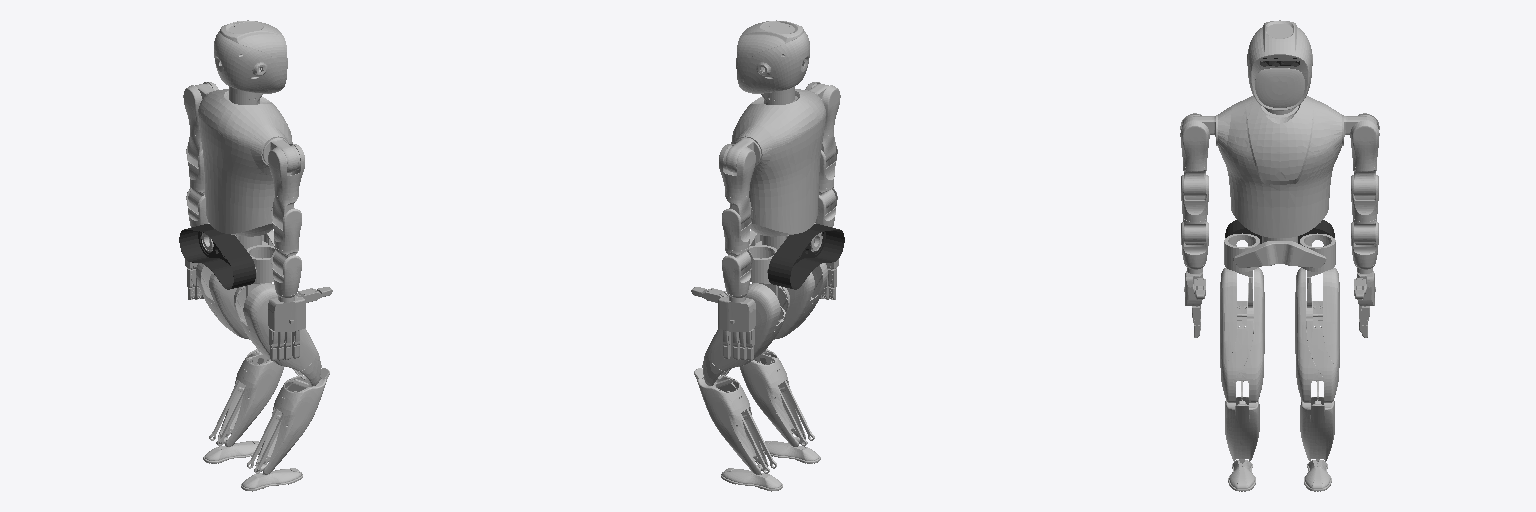
--- What the picture shows (computed from the rendered views, not written in the file) ---
The picture shows the robot from 3 angles, left to right: view 1: azimuth 30°, elevation 25°; view 2: azimuth 150°, elevation 25°; view 3: azimuth 270°, elevation 25°; orthographic projection.
Model XBot-L with 91 links and 90 joints (12 revolute, 78 fixed), rooted at base_link, posed every joint at zero.
Links seen in each view (by area): view 1: base_link, neck_pitch_link, right_knee_link, right_leg_pitch_link, waist_roll_link, left_knee_link, left_leg_pitch_link, right_shoulder_roll_link, right_hand_link, right_elbow_pitch_link, right_wrist_roll_link, right_ankle_roll_link (+4 smaller); view 2: base_link, neck_pitch_link, left_knee_link, left_leg_pitch_link, waist_roll_link, right_knee_link, right_leg_pitch_link, left_shoulder_roll_link, left_hand_link, left_elbow_pitch_link, left_wrist_roll_link, left_ankle_roll_link (+4 smaller); view 3: base_link, left_leg_pitch_link, right_leg_pitch_link, neck_pitch_link, waist_yaw_link, right_knee_link, left_knee_link, right_shoulder_roll_link, left_shoulder_roll_link, left_elbow_pitch_link, right_elbow_pitch_link, right_leg_roll_link (+8 smaller).
Boxes of the visible links, <box> form: base_link: <box>198,89,292,236</box>; neck_pitch_link: <box>214,20,287,93</box>; right_knee_link: <box>255,368,329,474</box>; right_leg_pitch_link: <box>234,283,320,385</box>; waist_roll_link: <box>179,224,255,289</box>; left_knee_link: <box>218,349,283,446</box>; left_leg_pitch_link: <box>196,263,249,339</box>; right_shoulder_roll_link: <box>268,144,304,197</box>; right_hand_link: <box>268,296,305,331</box>; right_elbow_pitch_link: <box>271,207,301,250</box>; right_wrist_roll_link: <box>271,250,301,295</box>; right_ankle_roll_link: <box>241,468,302,491</box>; base_link: <box>731,89,825,236</box>; neck_pitch_link: <box>736,20,809,93</box>; left_knee_link: <box>694,368,768,474</box>; left_leg_pitch_link: <box>703,283,789,385</box>; waist_roll_link: <box>768,224,844,289</box>; right_knee_link: <box>740,349,805,446</box>; right_leg_pitch_link: <box>774,263,827,339</box>; left_shoulder_roll_link: <box>719,144,755,197</box>; left_hand_link: <box>718,296,755,331</box>; left_elbow_pitch_link: <box>722,207,752,250</box>; left_wrist_roll_link: <box>722,250,752,295</box>; left_ankle_roll_link: <box>721,468,782,491</box>; base_link: <box>1218,96,1341,237</box>; left_leg_pitch_link: <box>1295,268,1339,402</box>; right_leg_pitch_link: <box>1220,268,1264,402</box>; neck_pitch_link: <box>1247,20,1312,110</box>; waist_yaw_link: <box>1233,236,1326,267</box>; right_knee_link: <box>1225,397,1259,461</box>; left_knee_link: <box>1300,397,1334,461</box>; right_shoulder_roll_link: <box>1180,113,1209,168</box>; left_shoulder_roll_link: <box>1350,113,1379,168</box>; left_elbow_pitch_link: <box>1351,175,1378,221</box>; right_elbow_pitch_link: <box>1181,175,1208,221</box>; right_leg_roll_link: <box>1224,233,1259,271</box>.
Bounding box of the posed robot: 0.3685 × 0.6175 × 1.52 m (x, y, z).
84 mesh visuals loaded from 85 distinct referenced files (84 binary STL); not drawn: 1 (reference not matched to a file when rendering).

robot.urdf — XBot-L:
<?xml version="1.0" encoding="utf-8"?>
<!-- This URDF was automatically created by SolidWorks to URDF Exporter! Originally created by Stephen Brawner ([email redacted]) 
     Commit Version: 1.6.0-4-g7f85cfe  Build Version: 1.6.7995.38578
     For more information, please see http://wiki.ros.org/sw_urdf_exporter -->
<robot
  name="XBot-L">
  <link
    name="base_link">
    <inertial>
      <origin
        xyz="-0.0033599 -0.00084664 0.1336"
        rpy="0 0 0" />
      <mass
        value="9.9576" />
      <inertia
        ixx="0.089966"
        ixy="-1.1578E-05"
        ixz="-0.00027182"
        iyy="0.060002"
        iyz="-2.1263E-05"
        izz="0.056135" />
    </inertial>
    <visual>
      <origin
        xyz="0 0 0"
        rpy="0 0 0" />
      <geometry>
        <mesh
          filename="../meshes/base_link.STL" />
      </geometry>
      <material
        name="">
        <color
          rgba="0.75294 0.75294 0.75294 1" />
      </material>
    </visual>
    <collision>
      <origin
        xyz="0 0. 0.1"
        rpy="0 0 0" />
      <geometry>
        <box size="0.4 0.4 0.4"/>
      </geometry>
    </collision>

    <!-- <collision>
      <origin
        xyz="0 0 0"
        rpy="0 0 0" />
      <geometry>
        <mesh
          filename="../meshes/base_link.STL" />
      </geometry>
    </collision> -->
  </link>
  <!--neck -->
  <link
    name="neck_base_link">
    <inertial>
      <origin
        xyz="3.5639E-05 4.7576E-05 -0.031296"
        rpy="0 0 0" />
      <mass
        value="0.61964" />
      <inertia
        ixx="0.00027591"
        ixy="4.4922E-07"
        ixz="4.4668E-07"
        iyy="0.00029054"
        iyz="3.5279E-07"
        izz="0.00047326" />
    </inertial>
    <visual>
      <origin
        xyz="0 0 0"
        rpy="0 0 0" />
      <geometry>
        <mesh
          filename="../meshes/neck_base_link.STL" />
      </geometry>
      <material
        name="">
        <color
          rgba="0.86667 0.86667 0.8902 1" />
      </material>
    </visual>
    <collision>
      <origin
        xyz="0 0 0"
        rpy="0 0 0" />
      <geometry>
        <mesh
          filename="../meshes/neck_base_link.STL" />
      </geometry>
    </collision>
  </link>
  <joint
    name="neck_base_joint"
    type="fixed">
    <origin
      xyz="0 0 0.4"
      rpy="0 0 0" />
    <parent
      link="base_link" />
    <child
      link="neck_base_link" />
    <axis
      xyz="0 0 0" />
  </joint>
  <link
    name="neck_yaw_link">
    <inertial>
      <origin
        xyz="0.023237 0.004247 0.035877"
        rpy="0 0 0" />
      <mass
        value="0.64979" />
      <inertia
        ixx="0.00033722"
        ixy="7.322E-07"
        ixz="1.9679E-05"
        iyy="0.00056036"
        iyz="2.7926E-07"
        izz="0.0003788" />
    </inertial>
    <visual>
      <origin
        xyz="0 0 0"
        rpy="0 0 0" />
      <geometry>
        <mesh
          filename="../meshes/neck_yaw_link.STL" />
      </geometry>
      <material
        name="">
        <color
          rgba="0.69804 0.69804 0.69804 1" />
      </material>
    </visual>
    <collision>
      <origin
        xyz="0 0 0"
        rpy="0 0 0" />
      <geometry>
        <mesh
          filename="../meshes/neck_yaw_link.STL" />
      </geometry>
    </collision>
  </link>
  <joint
    name="neck_yaw_joint"
    type="fixed">
    <origin
      xyz="0 0 0"
      rpy="0 0 0" />
    <parent
      link="neck_base_link" />
    <child
      link="neck_yaw_link" />
    <axis
      xyz="0 0 1" />
    <limit
      lower="-1.57"
      upper="1.57"
      effort="50"
      velocity="7" />
    <dynamics
      damping="0."
      friction="0." />
  </joint>
  <link
    name="neck_pitch_link">
    <inertial>
      <origin
        xyz="-0.0021819 -0.087991 0.00035708"
        rpy="0 0 0" />
      <mass
        value="1.3216" />
      <inertia
        ixx="0.0064217"
        ixy="-0.0010336"
        ixz="-1.3429E-07"
        iyy="0.0051542"
        iyz="3.6968E-07"
        izz="0.0050103" />
    </inertial>
    <visual>
      <origin
        xyz="0 0 0"
        rpy="0 0 0" />
      <geometry>
        <mesh
          filename="../meshes/neck_pitch_link.STL" />
      </geometry>
      <material
        name="">
        <color
          rgba="0.75294 0.75294 0.75294 1" />
      </material>
    </visual>
    <collision>
      <origin
        xyz="0 0 0"
        rpy="0 0 0" />
      <geometry>
        <mesh
          filename="../meshes/neck_pitch_link.STL" />
      </geometry>
    </collision>
  </link>
  <joint
    name="neck_pitch_joint"
    type="fixed">
    <origin
      xyz="0.032 0 0.044"
      rpy="-1.5708 0 0" />
    <parent
      link="neck_yaw_link" />
    <child
      link="neck_pitch_link" />
    <axis
      xyz="0 0 1" />
    <limit
      lower="-0.44"
      upper="0.44"
      effort="50"
      velocity="7" />
    <dynamics
      damping="0."
      friction="0." />
  </joint>
  <!--realsense -->
  <link
    name="realsense_link">
    <inertial>
      <origin
        xyz="0.047424 0.00014285 -0.0082421"
        rpy="0 0 0" />
      <mass
        value="0.076907" />
      <inertia
        ixx="8.6659E-06"
        ixy="9.2766E-08"
        ixz="-9.1747E-08"
        iyy="9.4298E-05"
        iyz="9.0199E-08"
        izz="9.4996E-05" />
    </inertial>
    <visual>
      <origin
        xyz="0 0 0"
        rpy="0 0 0" />
      <geometry>
        <mesh
          filename="../meshes/realsense_link.STL" />
      </geometry>
      <material
        name="">
        <color
          rgba="0.25098 0.25098 0.25098 1" />
      </material>
    </visual>
    <collision>
      <origin
        xyz="0 0 0"
        rpy="0 0 0" />
      <geometry>
        <mesh
          filename="../meshes/realsense_link.STL" />
      </geometry>
    </collision>
  </link>
  <joint
    name="realsense_joint"
    type="fixed">
    <origin
      xyz="0.066371 -0.12536 0.0475"
      rpy="0.34907 1.5708 0" />
    <parent
      link="neck_pitch_link" />
    <child
      link="realsense_link" />
    <axis
      xyz="0 0 0" />
  </joint>
  <!--left arm  -->
  <link
    name="left_arm_base_link">
    <inertial>
      <origin
        xyz="4.3007E-05 -0.0002119 0.15272"
        rpy="0 0 0" />
      <mass
        value="0.71484" />
      <inertia
        ixx="0.00039879"
        ixy="4.4875E-09"
        ixz="4.4641E-07"
        iyy="0.00039825"
        iyz="3.3288E-07"
        izz="0.0005946" />
    </inertial>
    <visual>
      <origin
        xyz="0 0 0"
        rpy="0 0 0" />
      <geometry>
        <mesh
          filename="../meshes/left_arm_base_link.STL" />
      </geometry>
      <material
        name="">
        <color
          rgba="0.75294 0.75294 0.75294 1" />
      </material>
    </visual>
    <collision>
      <origin
        xyz="0 0 0"
        rpy="0 0 0" />
      <geometry>
        <mesh
          filename="../meshes/left_arm_base_link.STL" />
      </geometry>
    </collision>
  </link>
  <joint
    name="left_arm_base_joint"
    type="fixed">
    <origin
      xyz="0 0 0.2885"
      rpy="-1.5708 -1.5708 0" />
    <parent
      link="base_link" />
    <child
      link="left_arm_base_link" />
    <axis
      xyz="0 0 0" />
  </joint>
  <link
    name="left_shoulder_pitch_link">
    <inertial>
      <origin
        xyz="3.5013E-05 -0.0038729 -0.011871"
        rpy="0 0 0" />
      <mass
        value="0.90505" />
      <inertia
        ixx="0.00071173"
        ixy="5.7487E-07"
        ixz="-9.3092E-06"
        iyy="0.0010328"
        iyz="-3.8731E-06"
        izz="0.00051962" />
    </inertial>
    <visual>
      <origin
        xyz="0 0 0"
        rpy="0 0 0" />
      <geometry>
        <mesh
          filename="../meshes/left_shoulder_pitch_link.STL" />
      </geometry>
      <material
        name="">
        <color
          rgba="0.75294 0.75294 0.75294 1" />
      </material>
    </visual>
    <collision>
      <origin
        xyz="0 0 0"
        rpy="0 0 0" />
      <geometry>
        <mesh
          filename="../meshes/left_shoulder_pitch_link.STL" />
      </geometry>
    </collision>
  </link>
  <joint
    name="left_shoulder_pitch_joint"
    type="fixed">
    <origin
      xyz="0 0 0.2635"
      rpy="0 0 0" />
    <parent
      link="left_arm_base_link" />
    <child
      link="left_shoulder_pitch_link" />
    <axis
      xyz="0 0 1" />
    <limit
      lower="-3.14"
      upper="1.4"
      effort="80"
      velocity="7" />
    <dynamics
      damping="0."
      friction="0." />
  </joint>
  <link
    name="left_shoulder_roll_link">
    <inertial>
      <origin
        xyz="-5.3445E-05 -0.065465 0.00044459"
        rpy="0 0 0" />
      <mass
        value="0.72803" />
      <inertia
        ixx="0.00083478"
        ixy="5.2258E-07"
        ixz="-9.7942E-07"
        iyy="0.00046725"
        iyz="-1.7628E-07"
        izz="0.00099776" />
    </inertial>
    <visual>
      <origin
        xyz="0 0 0"
        rpy="0 0 0" />
      <geometry>
        <mesh
          filename="../meshes/left_shoulder_roll_link.STL" />
      </geometry>
      <material
        name="">
        <color
          rgba="0.75294 0.75294 0.75294 1" />
      </material>
    </visual>
    <collision>
      <origin
        xyz="0 0 0"
        rpy="0 0 0" />
      <geometry>
        <mesh
          filename="../meshes/left_shoulder_roll_link.STL" />
      </geometry>
    </collision>
  </link>
  <joint
    name="left_shoulder_roll_joint"
    type="fixed">
    <origin
      xyz="0 0 0"
      rpy="-1.5708 -1.5708 0" />
    <parent
      link="left_shoulder_pitch_link" />
    <child
      link="left_shoulder_roll_link" />
    <axis
      xyz="0 0 -1" />
    <limit
      lower="-2.79"
      upper="0.37"
      effort="80"
      velocity="7" />
    <dynamics
      damping="0."
      friction="0." />
  </joint>
  <link
    name="left_arm_yaw_link">
    <inertial>
      <origin
        xyz="-0.00064229 0.0042682 -0.011976"
        rpy="0 0 0" />
      <mass
        value="0.6767" />
      <inertia
        ixx="0.00042478"
        ixy="7.579E-07"
        ixz="-4.3018E-06"
        iyy="0.0005533"
        iyz="-2.724E-07"
        izz="0.00027258" />
    </inertial>
    <visual>
      <origin
        xyz="0 0 0"
        rpy="0 0 0" />
      <geometry>
        <mesh
          filename="../meshes/left_arm_yaw_link.STL" />
      </geometry>
      <material
        name="">
        <color
          rgba="0.75294 0.75294 0.75294 1" />
      </material>
    </visual>
    <collision>
      <origin
        xyz="0 0 0"
        rpy="0 0 0" />
      <geometry>
        <mesh
          filename="../meshes/left_arm_yaw_link.STL" />
      </geometry>
    </collision>
  </link>
  <joint
    name="left_arm_yaw_joint"
    type="fixed">
    <origin
      xyz="0 -0.1905 0"
      rpy="1.5708 -1.5708 0" />
    <parent
      link="left_shoulder_roll_link" />
    <child
      link="left_arm_yaw_link" />
    <axis
      xyz="0 0 1" />
    <limit
      lower="-2.09"
      upper="2.09"
      effort="50"
      velocity="7" />
    <dynamics
      damping="0."
      friction="0." />
  </joint>
  <link
    name="left_elbow_pitch_link">
    <inertial>
      <origin
        xyz="-4.1786E-05 0.063355 0.00048573"
        rpy="0 0 0" />
      <mass
        value="0.64825" />
      <inertia
        ixx="0.00066842"
        ixy="-3.9226E-07"
        ixz="-4.9075E-07"
        iyy="0.00051468"
        iyz="3.558E-07"
        izz="0.00057032" />
    </inertial>
    <visual>
      <origin
        xyz="0 0 0"
        rpy="0 0 0" />
      <geometry>
        <mesh
          filename="../meshes/left_elbow_pitch_link.STL" />
      </geometry>
      <material
        name="">
        <color
          rgba="0.75294 0.75294 0.75294 1" />
      </material>
    </visual>
    <collision>
      <origin
        xyz="0 0 0"
        rpy="0 0 0" />
      <geometry>
        <mesh
          filename="../meshes/left_elbow_pitch_link.STL" />
      </geometry>
    </collision>
  </link>
  <joint
    name="left_elbow_pitch_joint"
    type="fixed">
    <origin
      xyz="0 0 0"
      rpy="1.5708 0 0" />
    <parent
      link="left_arm_yaw_link" />
    <child
      link="left_elbow_pitch_link" />
    <axis
      xyz="0 0 -1" />
    <limit
      lower="-0.26"
      upper="2.18"
      effort="50"
      velocity="7" />
    <dynamics
      damping="0."
      friction="0." />
  </joint>
  <link
    name="left_elbow_yaw_link">
    <inertial>
      <origin
        xyz="-0.0001806 0.0042708 -0.0077002"
        rpy="0 0 0" />
      <mass
        value="0.64989" />
      <inertia
        ixx="0.00031291"
        ixy="1.4143E-07"
        ixz="-1.0059E-06"
        iyy="0.00043268"
        iyz="-5.4972E-07"
        izz="0.00025356" />
    </inertial>
    <visual>
      <origin
        xyz="0 0 0"
        rpy="0 0 0" />
      <geometry>
        <mesh
          filename="../meshes/left_elbow_yaw_link.STL" />
      </geometry>
      <material
        name="">
        <color
          rgba="0.75294 0.75294 0.75294 1" />
      </material>
    </visual>
    <collision>
      <origin
        xyz="0 0 0"
        rpy="0 0 0" />
      <geometry>
        <mesh
          filename="../meshes/left_elbow_yaw_link.STL" />
      </geometry>
    </collision>
  </link>
  <joint
    name="left_elbow_yaw_joint"
    type="fixed">
    <origin
      xyz="0 0.16 0"
      rpy="-1.5708 0 0" />
    <parent
      link="left_elbow_pitch_link" />
    <child
      link="left_elbow_yaw_link" />
    <axis
      xyz="0 0 1" />
    <limit
      lower="-2.09"
      upper="2.09"
      effort="50"
      velocity="7" />
    <dynamics
      damping="0."
      friction="0." />
  </joint>
  <link
    name="left_wrist_roll_link">
    <inertial>
      <origin
        xyz="-5.7422E-05 -0.062427 -0.00035934"
        rpy="0 0 0" />
      <mass
        value="0.63795" />
      <inertia
        ixx="0.00061799"
        ixy="3.7671E-07"
        ixz="-9.2328E-07"
        iyy="0.00049848"
        iyz="-2.2456E-06"
        izz="0.0005284" />
    </inertial>
    <visual>
      <origin
        xyz="0 0 0"
        rpy="0 0 0" />
      <geometry>
        <mesh
          filename="../meshes/left_wrist_roll_link.STL" />
      </geometry>
      <material
        name="">
        <color
          rgba="0.75294 0.75294 0.75294 1" />
      </material>
    </visual>
    <collision>
      <origin
        xyz="0 0 0"
        rpy="0 0 0" />
      <geometry>
        <mesh
          filename="../meshes/left_wrist_roll_link.STL" />
      </geometry>
    </collision>
  </link>
  <joint
    name="left_wrist_roll_joint"
    type="fixed">
    <origin
      xyz="0 0 0"
      rpy="-1.5708 0 0" />
    <parent
      link="left_elbow_yaw_link" />
    <child
      link="left_wrist_roll_link" />
    <axis
      xyz="0 0 1" />
    <limit
      lower="-1.92"
      upper="1.92"
      effort="50"
      velocity="7" />
    <dynamics
      damping="0."
      friction="0." />
  </joint>
  <link
    name="left_wrist_yaw_link">
    <inertial>
      <origin
        xyz="2.3347E-07 -0.00026089 0.11621"
        rpy="0 0 0" />
      <mass
        value="0.083273" />
      <inertia
        ixx="2.0254E-05"
        ixy="2.1639E-08"
        ixz="7.9935E-11"
        iyy="2.0019E-05"
        iyz="-6.7147E-08"
        izz="3.6529E-05" />
    </inertial>
    <visual>
      <origin
        xyz="0 0 0"
        rpy="0 0 0" />
      <geometry>
        <mesh
          filename="../meshes/left_wrist_yaw_link.STL" />
      </geometry>
      <material
        name="">
        <color
          rgba="0.75294 0.75294 0.75294 1" />
      </material>
    </visual>
    <!-- <collision>
      <origin
        xyz="0 0 0"
        rpy="0 0 0" />
      <geometry>
        <mesh
          filename="../meshes/left_wrist_yaw_link.STL" />
      </geometry>
    </collision> -->
  </link>
  <joint
    name="left_wrist_yaw_joint"
    type="fixed">
    <origin
      xyz="0 0 0"
      rpy="1.5708 0 0" />
    <parent
      link="left_wrist_roll_link" />
    <child
      link="left_wrist_yaw_link" />
    <axis
      xyz="0 0 1" />
    <limit
      lower="-2.09"
      upper="2.09"
      effort="50"
      velocity="7" />
    <dynamics
      damping="0."
      friction="0." />
  </joint>
    <!--right arm  -->
  <link
    name="right_arm_base_link">
    <inertial>
      <origin
        xyz="4.3007E-05 -0.0002119 0.15272"
        rpy="0 0 0" />
      <mass
        value="0.71484" />
      <inertia
        ixx="0.00039879"
        ixy="4.4875E-09"
        ixz="4.4641E-07"
        iyy="0.00039825"
        iyz="3.3288E-07"
        izz="0.0005946" />
    </inertial>
    <visual>
      <origin
        xyz="0 0 0"
        rpy="0 0 0" />
      <geometry>
        <mesh
          filename="../meshes/right_arm_base_link.STL" />
      </geometry>
      <material
        name="">
        <color
          rgba="0.75294 0.75294 0.75294 1" />
      </material>
    </visual>
    <collision>
      <origin
        xyz="0 0 0"
        rpy="0 0 0" />
      <geometry>
        <mesh
          filename="../meshes/right_arm_base_link.STL" />
      </geometry>
    </collision>
  </link>
  <joint
    name="right_arm_base_joint"
    type="fixed">
    <origin
      xyz="0 0 0.2885"
      rpy="1.5708 -1.5708 0" />
    <parent
      link="base_link" />
    <child
      link="right_arm_base_link" />
    <axis
      xyz="0 0 0" />
  </joint>
  <link
    name="right_shoulder_pitch_link">
    <inertial>
      <origin
        xyz="-1.5908E-05 0.0038729 -0.012191"
        rpy="0 0 0" />
      <mass
        value="0.90505" />
      <inertia
        ixx="0.00071187"
        ixy="-5.5323E-07"
        ixz="-8.8712E-06"
        iyy="0.0010328"
        iyz="4.0089E-06"
        izz="0.00051948" />
    </inertial>
    <visual>
      <origin
        xyz="0 0 0"
        rpy="0 0 0" />
      <geometry>
        <mesh
          filename="../meshes/right_shoulder_pitch_link.STL" />
      </geometry>
      <material
        name="">
        <color
          rgba="0.75294 0.75294 0.75294 1" />
      </material>
    </visual>
    <collision>
      <origin
        xyz="0 0 0"
        rpy="0 0 0" />
      <geometry>
        <mesh
          filename="../meshes/right_shoulder_pitch_link.STL" />
      </geometry>
    </collision>
  </link>
  <joint
    name="right_shoulder_pitch_joint"
    type="fixed">
    <origin
      xyz="0 0 0.2635"
      rpy="0 0 0" />
    <parent
      link="right_arm_base_link" />
    <child
      link="right_shoulder_pitch_link" />
    <axis
      xyz="0 0 1" />
    <limit
      lower="-1.4"
      upper="3.14"
      effort="80"
      velocity="7" />
    <dynamics
      damping="0."
      friction="0." />
  </joint>
  <link
    name="right_shoulder_roll_link">
    <inertial>
      <origin
        xyz="5.3331E-05 -0.065465 -0.00044443"
        rpy="0 0 0" />
      <mass
        value="0.72803" />
      <inertia
        ixx="0.00083478"
        ixy="-5.2488E-07"
        ixz="-9.7929E-07"
        iyy="0.00046725"
        iyz="1.7642E-07"
        izz="0.00099776" />
    </inertial>
    <visual>
      <origin
        xyz="0 0 0"
        rpy="0 0 0" />
      <geometry>
        <mesh
          filename="../meshes/right_shoulder_roll_link.STL" />
      </geometry>
      <material
        name="">
        <color
          rgba="0.75294 0.75294 0.75294 1" />
      </material>
    </visual>
    <collision>
      <origin
        xyz="0 0 0"
        rpy="0 0 0" />
      <geometry>
        <mesh
          filename="../meshes/right_shoulder_roll_link.STL" />
      </geometry>
    </collision>
  </link>
  <joint
    name="right_shoulder_roll_joint"
    type="fixed">
    <origin
      xyz="0 0 0"
      rpy="-1.5708 -1.5708 0" />
    <parent
      link="right_shoulder_pitch_link" />
    <child
      link="right_shoulder_roll_link" />
    <axis
      xyz="0 0 1" />
    <limit
      lower="-0.37"
      upper="2.79"
      effort="80"
      velocity="7" />
    <dynamics
      damping="0."
      friction="0." />
  </joint>
  <link
    name="right_arm_yaw_link">
    <inertial>
      <origin
        xyz="-0.00088723 -0.0040764 -0.011947"
        rpy="0 0 0" />
      <mass
        value="0.67669" />
      <inertia
        ixx="0.00042305"
        ixy="7.5046E-07"
        ixz="-4.8243E-06"
        iyy="0.00055472"
        iyz="2.322E-08"
        izz="0.00027284" />
    </inertial>
    <visual>
      <origin
        xyz="0 0 0"
        rpy="0 0 0" />
      <geometry>
        <mesh
          filename="../meshes/right_arm_yaw_link.STL" />
      </geometry>
      <material
        name="">
        <color
          rgba="0.75294 0.75294 0.75294 1" />
      </material>
    </visual>
    <collision>
      <origin
        xyz="0 0 0"
        rpy="0 0 0" />
      <geometry>
        <mesh
          filename="../meshes/right_arm_yaw_link.STL" />
      </geometry>
    </collision>
  </link>
  <joint
    name="right_arm_yaw_joint"
    type="fixed">
    <origin
      xyz="0 -0.1905 0"
      rpy="1.5708 1.5708 0" />
    <parent
      link="right_shoulder_roll_link" />
    <child
      link="right_arm_yaw_link" />
    <axis
      xyz="0 0 1" />
    <limit
      lower="-2.09"
      upper="2.09"
      effort="50"
      velocity="7" />
    <dynamics
      damping="0."
      friction="0." />
  </joint>
  <link
    name="right_elbow_pitch_link">
    <inertial>
      <origin
        xyz="-5.6114E-05 0.063356 -0.00046067"
        rpy="0 0 0" />
      <mass
        value="0.64824" />
      <inertia
        ixx="0.00066729"
        ixy="-4.4996E-07"
        ixz="9.4198E-07"
        iyy="0.00051467"
        iyz="-2.5324E-07"
        izz="0.0005714" />
    </inertial>
    <visual>
      <origin
        xyz="0 0 0"
        rpy="0 0 0" />
      <geometry>
        <mesh
          filename="../meshes/right_elbow_pitch_link.STL" />
      </geometry>
      <material
        name="">
        <color
          rgba="0.75294 0.75294 0.75294 1" />
      </material>
    </visual>
    <collision>
      <origin
        xyz="0 0 0"
        rpy="0 0 0" />
      <geometry>
        <mesh
          filename="../meshes/right_elbow_pitch_link.STL" />
      </geometry>
    </collision>
  </link>
  <joint
    name="right_elbow_pitch_joint"
    type="fixed">
    <origin
      xyz="0 0 0"
      rpy="1.5708 0 0" />
    <parent
      link="right_arm_yaw_link" />
    <child
      link="right_elbow_pitch_link" />
    <axis
      xyz="0 0 1" />
    <limit
      lower="-2.18"
      upper="0.26"
      effort="50"
      velocity="7" />
    <dynamics
      damping="0."
      friction="0." />
  </joint>
  <link
    name="right_elbow_yaw_link">
    <inertial>
      <origin
        xyz="9.9183E-05 -0.0042397 -0.0078479"
        rpy="0 0 0" />
      <mass
        value="0.6519" />
      <inertia
        ixx="0.00031322"
        ixy="3.7211E-08"
        ixz="1.0437E-06"
        iyy="0.0004327"
        iyz="5.4065E-07"
        izz="0.00025354" />
    </inertial>
    <visual>
      <origin
        xyz="0 0 0"
        rpy="0 0 0" />
      <geometry>
        <mesh
          filename="../meshes/right_elbow_yaw_link.STL" />
      </geometry>
      <material
        name="">
        <color
          rgba="0.75294 0.75294 0.75294 1" />
      </material>
    </visual>
    <collision>
      <origin
        xyz="0 0 0"
        rpy="0 0 0" />
      <geometry>
        <mesh
          filename="../meshes/right_elbow_yaw_link.STL" />
      </geometry>
    </collision>
  </link>
  <joint
    name="right_elbow_yaw_joint"
    type="fixed">
    <origin
      xyz="0 0.16 0"
      rpy="-1.5708 0 0" />
    <parent
      link="right_elbow_pitch_link" />
    <child
      link="right_elbow_yaw_link" />
    <axis
      xyz="0 0 1" />
    <limit
      lower="-2.09"
      upper="2.09"
      effort="50"
      velocity="7" />
    <dynamics
      damping="0."
      friction="0." />
  </joint>
  <link
    name="right_wrist_roll_link">
    <inertial>
      <origin
        xyz="5.6478E-05 -0.062427 0.00035729"
        rpy="0 0 0" />
      <mass
        value="0.63795" />
      <inertia
        ixx="0.00061792"
        ixy="-3.6597E-07"
        ixz="-8.9401E-07"
        iyy="0.00049847"
        iyz="2.2635E-06"
        izz="0.00052846" />
    </inertial>
    <visual>
      <origin
        xyz="0 0 0"
        rpy="0 0 0" />
      <geometry>
        <mesh
          filename="../meshes/right_wrist_roll_link.STL" />
      </geometry>
      <material
        name="">
        <color
          rgba="0.75294 0.75294 0.75294 1" />
      </material>
    </visual>
    <collision>
      <origin
        xyz="0 0 0"
        rpy="0 0 0" />
      <geometry>
        <mesh
          filename="../meshes/right_wrist_roll_link.STL" />
      </geometry>
    </collision>
  </link>
  <joint
    name="right_wrist_roll_joint"
    type="fixed">
    <origin
      xyz="0 0 0"
      rpy="-1.5708 0 0" />
    <parent
      link="right_elbow_yaw_link" />
    <child
      link="right_wrist_roll_link" />
    <axis
      xyz="0 0 -1" />
    <limit
      lower="-1.92"
      upper="1.92"
      effort="50"
      velocity="7" />
    <dynamics
      damping="0."
      friction="0." />
  </joint>
  <link
    name="right_wrist_yaw_link">
    <inertial>
      <origin
        xyz="-8.1679E-08 0.00026081 0.11621"
        rpy="0 0 0" />
      <mass
        value="0.083273" />
      <inertia
        ixx="2.0254E-05"
        ixy="2.1709E-08"
        ixz="-1.4701E-10"
        iyy="2.0019E-05"
        iyz="6.7218E-08"
        izz="3.6529E-05" />
    </inertial>
    <visual>
      <origin
        xyz="0 0 0"
        rpy="0 0 0" />
      <geometry>
        <mesh
          filename="../meshes/right_wrist_yaw_link.STL" />
      </geometry>
      <material
        name="">
        <color
          rgba="0.75294 0.75294 0.75294 1" />
      </material>
    </visual>
    <!-- <collision>
      <origin
        xyz="0 0 0"
        rpy="0 0 0" />
      <geometry>
        <mesh
          filename="../meshes/right_wrist_yaw_link.STL" />
      </geometry>
    </collision> -->
  </link>
  <joint
    name="right_wrist_yaw_joint"
    type="fixed">
    <origin
      xyz="0 0 0"
      rpy="1.5708 0 0" />
    <parent
      link="right_wrist_roll_link" />
    <child
      link="right_wrist_yaw_link" />
    <axis
      xyz="0 0 1" />
    <limit
      lower="-2.09"
      upper="2.09"
      effort="50"
      velocity="7" />
    <dynamics
      damping="0."
      friction="0." />
  </joint>

  <!--waist  --> 
  <link
    name="waist_yaw_link">
    <inertial>
      <origin
        xyz="0.0018236 3.106E-08 0.015461"
        rpy="0 0 0" />
      <mass
        value="1.9214" />
      <inertia
        ixx="0.0032668"
        ixy="-2.5545E-08"
        ixz="-4.7672E-05"
        iyy="0.0027745"
        iyz="3.1696E-09"
        izz="0.0043665" />
    </inertial>
    <visual>
      <origin
        xyz="0 0 0"
        rpy="0 0 0" />
      <geometry>
        <mesh
          filename="../meshes/waist_yaw_link.STL" />
      </geometry>
      <material
        name="">
        <color
          rgba="0.75294 0.75294 0.75294 1" />
      </material>
    </visual>
    <!-- <collision>
      <origin
        xyz="0 0 0"
        rpy="0 0 0" />
      <geometry>
        <mesh
          filename="../meshes/waist_yaw_link.STL" />
      </geometry>
    </collision> -->
  </link>
  <joint
    name="waist_yaw_joint"
    type="fixed">
    <origin
      xyz="0 0 -0.0975"
      rpy="0 0 0" />
    <parent
      link="base_link" />
    <child
      link="waist_yaw_link" />
    <axis
      xyz="0 0 -1" />
    <limit
      lower="-1.57"
      upper="1.57"
      effort="100"
      velocity="12" />
    <dynamics
      damping="0."
      friction="0." />
  </joint>
  <link
    name="waist_roll_link">
    <inertial>
      <origin
        xyz="-8.7577E-07 -0.020553 -0.088247"
        rpy="0 0 0" />
      <mass
        value="5.1053" />
      <inertia
        ixx="0.0067829"
        ixy="-2.98E-09"
        ixz="-2.5393E-07"
        iyy="0.011425"
        iyz="-1.2239E-05"
        izz="0.014655" />
    </inertial>
    <visual>
      <origin
        xyz="0 0 0"
        rpy="0 0 0" />
      <geometry>
        <mesh
          filename="../meshes/waist_roll_link.STL" />
      </geometry>
      <material
        name="">
        <color
          rgba="0.25098 0.25098 0.25098 1" />
      </material>
    </visual>
    <!-- <collision>
      <origin
        xyz="0 0 0"
        rpy="0 0 0" />
      <geometry>
        <mesh
          filename="../meshes/waist_roll_link.STL" />
      </geometry>
    </collision> -->
  </link>
  <joint
    name="waist_roll_joint"
    type="fixed">
    <origin
      xyz="0 0 0"
      rpy="1.5708 0 1.5708" />
    <parent
      link="waist_yaw_link" />
    <child
      link="waist_roll_link" />
    <axis
      xyz="0 0 -1" />
    <limit
      lower="-0.26"
      upper="0.26"
      effort="100"
      velocity="12" />
    <dynamics
      damping="0."
      friction="0." />
  </joint>

    <!--left leg  --> 
  <link
    name="left_leg_roll_link">
    <inertial>
      <origin
        xyz="-0.0048592 -0.00012591 -0.0028089"
        rpy="0 0 0" />
      <mass
        value="1.7968" />
      <inertia
        ixx="0.00366"
        ixy="1.1643E-07"
        ixz="3.4763E-05"
        iyy="0.0026951"
        iyz="-1.0471E-08"
        izz="0.0025009" />
    </inertial>
    <visual>
      <origin
        xyz="0 0 0"
        rpy="0 0 0" />
      <geometry>
        <mesh
          filename="../meshes/left_leg_roll_link.STL" />
      </geometry>
      <material
        name="">
        <color
          rgba="0.75294 0.75294 0.75294 1" />
      </material>
    </visual>
    <!-- <collision>
      <origin
        xyz="0 0 0"
        rpy="0 0 0" />
      <geometry>
        <mesh
          filename="../meshes/left_leg_roll_link.STL" />
      </geometry>
    </collision> -->
  </link>
  <joint
    name="left_leg_roll_joint"
    type="revolute">
    <origin
      xyz="0.117 -0.032 0"
      rpy="0 0 -1.5708" />
    <parent
      link="waist_roll_link" />
    <child
      link="left_leg_roll_link" />
    <axis
      xyz="0 0 1" />
    <limit
      lower="-0.44"
      upper="1.57"
      effort="100"
      velocity="12" />
    <dynamics
      damping="0."
      friction="0." />
  </joint>
  <link
    name="left_leg_yaw_link">
    <inertial>
      <origin
        xyz="-0.0013538 0.014654 0.077538"
        rpy="0 0 0" />
      <mass
        value="0.61484" />
      <inertia
        ixx="0.0012242"
        ixy="-6.7208E-07"
        ixz="-2.2333E-05"
        iyy="0.0013918"
        iyz="-0.00022312"
        izz="0.00048585" />
    </inertial>
    <visual>
      <origin
        xyz="0 0 0"
        rpy="0 0 0" />
      <geometry>
        <mesh
          filename="../meshes/left_leg_yaw_link.STL" />
      </geometry>
      <material
        name="">
        <color
          rgba="0.75294 0.75294 0.75294 1" />
      </material>
    </visual>
    <!-- <collision>
      <origin
        xyz="0 0 0"
        rpy="0 0 0" />
      <geometry>
        <mesh
          filename="../meshes/left_leg_yaw_link.STL" />
      </geometry>
    </collision> -->
  </link>
  <joint
    name="left_leg_yaw_joint"
    type="revolute">
    <origin
      xyz="0 0 0"
      rpy="3.1416 -1.5708 0" />
    <parent
      link="left_leg_roll_link" />
    <child
      link="left_leg_yaw_link" />
    <axis
      xyz="0 0 1" />
    <limit
      lower="-1.05"
      upper="1.05"
      effort="100"
      velocity="12" />
    <dynamics
      damping="0."
      friction="0." />
  </joint>
  <link
    name="left_leg_pitch_link">
    <inertial>
      <origin
        xyz="-0.0027612 -0.078535 -0.0083028"
        rpy="0 0 0" />
      <mass
        value="6.0376" />
      <inertia
        ixx="0.022941"
        ixy="0.00028796"
        ixz="-1.0894E-05"
        iyy="0.009392"
        iyz="-0.00018948"
        izz="0.030616" />
    </inertial>
    <visual>
      <origin
        xyz="0 0 0"
        rpy="0 0 0" />
      <geometry>
        <mesh
          filename="../meshes/left_leg_pitch_link.STL" />
      </geometry>
      <material
        name="">
        <color
          rgba="0.75294 0.75294 0.75294 1" />
      </material>
    </visual>
    <collision>
      <origin
        xyz="0 0 0"
        rpy="0 0 0" />
      <geometry>
        <mesh
          filename="../meshes/left_leg_pitch_link.STL" />
      </geometry>
    </collision>
  </link>
  <joint
    name="left_leg_pitch_joint"
    type="revolute">
    <origin
      xyz="0 0 0.1455"
      rpy="-1.5708 0.5236 0" />
    <parent
      link="left_leg_yaw_link" />
    <child
      link="left_leg_pitch_link" />
    <axis
      xyz="0 0 -1" />
    <limit
      lower="-1.57"
      upper="1.31"
      effort="250"
      velocity="12" />
    <dynamics
      damping="0."
      friction="0." />
  </joint>
  <link
    name="left_knee_link">
    <inertial>
      <origin
        xyz="0.015712 -0.10775 6.6184E-06"
        rpy="0 0 0" />
      <mass
        value="2.2288" />
      <inertia
        ixx="0.0086876"
        ixy="-0.00019539"
        ixz="7.1643E-07"
        iyy="0.0015757"
        iyz="2.0711E-06"
        izz="0.008833" />
    </inertial>
    <visual>
      <origin
        xyz="0 0 0"
        rpy="0 0 0" />
      <geometry>
        <mesh
          filename="../meshes/left_knee_link.STL" />
      </geometry>
      <material
        name="">
        <color
          rgba="0.75294 0.75294 0.75294 1" />
      </material>
    </visual>
    <collision>
      <origin
        xyz="0 0 0"
        rpy="0 0 0" />
      <geometry>
        <mesh
          filename="../meshes/left_knee_link.STL" />
      </geometry>
    </collision>
  </link>
  <joint
    name="left_knee_joint"
    type="revolute">
    <origin
      xyz="0 -0.32 0"
      rpy="0 0 -1.0472" />
    <parent
      link="left_leg_pitch_link" />
    <child
      link="left_knee_link" />
    <axis
      xyz="0 0 1" />
    <limit
      lower="-1.05"
      upper="1.1"
      effort="250"
      velocity="12" />
    <dynamics
      damping="0."
      friction="0." />
  </joint>
  <link
    name="left_ankle_pitch_link">
    <inertial>
      <origin
        xyz="-7.8974E-09 3.999E-08 1.2906E-15"
        rpy="0 0 0" />
      <mass
        value="0.043455" />
      <inertia
        ixx="1.2169E-06"
        ixy="-1.3839E-17"
        ixz="-4.252E-12"
        iyy="6.4906E-06"
        iyz="5.3179E-14"
        izz="6.7102E-06" />
    </inertial>
    <visual>
      <origin
        xyz="0 0 0"
        rpy="0 0 0" />
      <geometry>
        <mesh
          filename="../meshes/left_ankle_pitch_link.STL" />
      </geometry>
      <material
        name="">
        <color
          rgba="0.75294 0.75294 0.75294 1" />
      </material>
    </visual>
    <!-- <collision>
      <origin
        xyz="0 0 0"
        rpy="0 0 0" />
      <geometry>
        <mesh
          filename="../meshes/left_ankle_pitch_link.STL" />
      </geometry>
    </collision> -->
  </link>
  <joint
    name="left_ankle_pitch_joint"
    type="revolute">
    <origin
      xyz="0 -0.32 0"
      rpy="3.1416 0 0.5236" />
    <parent
      link="left_knee_link" />
    <child
      link="left_ankle_pitch_link" />
    <axis
      xyz="0 0 1" />
    <limit
      lower="-0.7"
      upper="0.87"
      effort="100"
      velocity="12" />
    <dynamics
      damping="0."
      friction="0.1" />
  </joint>
  <link
    name="left_ankle_roll_link">
    <inertial>
      <origin
        xyz="-1.1259E-06 -0.033529 0.02588"
        rpy="0 0 0" />
      <mass
        value="0.34252" />
      <inertia
        ixx="0.0008483"
        ixy="1.4122E-10"
        ixz="-1.6584E-08"
        iyy="0.00093602"
        iyz="1.1635E-05"
        izz="0.00012759" />
    </inertial>
    <visual>
      <origin
        xyz="0 0 0"
        rpy="0 0 0" />
      <geometry>
        <mesh
          filename="../meshes/left_ankle_roll_link.STL" />
      </geometry>
      <material
        name="">
        <color
          rgba="0.75294 0.75294 0.75294 1" />
      </material>
    </visual>

    <!-- <collision>
      <origin
        xyz="0 0 0 "
        rpy="0 0 0" />
      <geometry>
        <box size="0.16 0.07 0.02"/>
      </geometry>
    </collision> -->
    <collision>
      <origin
        xyz="0 0 0"
        rpy="0 0 0" />
      <geometry>
        <mesh
          filename="../meshes/left_ankle_roll_link.STL" />
      </geometry>
    </collision>
  </link>
  <joint
    name="left_ankle_roll_joint"
    type="revolute">
    <origin
      xyz="0 0 0"
      rpy="0 -1.5708 3.1416" />
    <parent
      link="left_ankle_pitch_link" />
    <child
      link="left_ankle_roll_link" />
    <axis
      xyz="0 0 1" />
    <limit
      lower="-0.44"
      upper="0.44"
      effort="100"
      velocity="12" />
    <dynamics
      damping="0."
      friction="0.1" />
  </joint>
  <link
    name="left_foot_ee_link">
    <inertial>
      <origin
        xyz="8.9304E-15 -2.7756E-16 0.0055"
        rpy="0 0 0" />
      <mass
        value="0.000975" />
      <inertia
        ixx="4.0625E-09"
        ixy="-1.0877E-23"
        ixz="-1.7125E-23"
        iyy="4.0625E-09"
        iyz="-1.7854E-23"
        izz="4.0625E-09" />
    </inertial>
    <visual>
      <origin
        xyz="0 0 0"
        rpy="0 0 0" />
      <geometry>
        <mesh
          filename="../meshes/left_foot_ee_link.STL" />
      </geometry>
      <material
        name="">
        <color
          rgba="0.75294 0.75294 0.75294 1" />
      </material>
    </visual>
    <!-- <collision>
      <origin
        xyz="0 0 0"
        rpy="0 0 0" />
      <geometry>
        <mesh
          filename="../meshes/left_foot_ee_link.STL" />
      </geometry>
    </collision> -->
  </link>
  <joint
    name="left_foot_ee_joint"
    type="fixed">
    <origin
      xyz="0 -0.056 0"
      rpy="-1.5708 -1.5708 0" />
    <parent
      link="left_ankle_roll_link" />
    <child
      link="left_foot_ee_link" />
    <axis
      xyz="0 0 0" />
  </joint>
  <link
    name="left_ankle_pitch_motor1_link">
    <inertial>
      <origin
        xyz="3.0355E-09 -0.01852 0.011673"
        rpy="0 0 0" />
      <mass
        value="0.031448" />
      <inertia
        ixx="1.2663E-05"
        ixy="-5.2945E-13"
        ixz="-2.4631E-13"
        iyy="3.8092E-06"
        iyz="-4.6528E-07"
        izz="1.5928E-05" />
    </inertial>
    <visual>
      <origin
        xyz="0 0 0"
        rpy="0 0 0" />
      <geometry>
        <mesh
          filename="../meshes/left_ankle_pitch_motor1_link.STL" />
      </geometry>
      <material
        name="">
        <color
          rgba="0.75294 0.75294 0.75294 1" />
      </material>
    </visual>
    <!-- <collision>
      <origin
        xyz="0 0 0"
        rpy="0 0 0" />
      <geometry>
        <mesh
          filename="../meshes/left_ankle_pitch_motor1_link.STL" />
      </geometry>
    </collision> -->
  </link>
  <joint
    name="left_ankle_pitch_motor1_joint"
    type="fixed">
    <origin
      xyz="0.015 -0.052915 -0.023"
      rpy="3.1416 0 1.7764" />
    <parent
      link="left_knee_link" />
    <child
      link="left_ankle_pitch_motor1_link" />
    <axis
      xyz="0 0 1" />
    <limit
      lower="-4"
      upper="4"
      effort="50"
      velocity="12" />
    <dynamics
      damping="0."
      friction="0." />
  </joint>
  <link
    name="left_ankle_pitch_linkage1_link">
    <inertial>
      <origin
        xyz="0.13224 0.0023241 -2.7751E-05"
        rpy="0 0 0" />
      <mass
        value="0.066732" />
      <inertia
        ixx="1.4166E-06"
        ixy="5.8871E-06"
        ixz="-7.0295E-08"
        iyy="0.00047775"
        iyz="8.4139E-09"
        izz="0.00047846" />
    </inertial>
    <visual>
      <origin
        xyz="0 0 0"
        rpy="0 0 0" />
      <geometry>
        <mesh
          filename="../meshes/left_ankle_pitch_linkage1_link.STL" />
      </geometry>
      <material
        name="">
        <color
          rgba="0.75294 0.75294 0.75294 1" />
      </material>
    </visual>
    <!-- <collision>
      <origin
        xyz="0 0 0"
        rpy="0 0 0" />
      <geometry>
        <mesh
          filename="../meshes/left_ankle_pitch_linkage1_link.STL" />
      </geometry>
    </collision> -->
  </link>
  <joint
    name="left_ankle_pitch_linkage1_joint"
    type="fixed">
    <origin
      xyz="0 -0.045 0"
      rpy="0 0 -2.9182" />
    <parent
      link="left_ankle_pitch_motor1_link" />
    <child
      link="left_ankle_pitch_linkage1_link" />
    <axis
      xyz="0 0 1" />
    <limit
      lower="-4"
      upper="4"
      effort="50"
      velocity="12" />
    <dynamics
      damping="0."
      friction="0." />
  </joint>
  <link
    name="left_ankle_pitch_motor2_link">
    <inertial>
      <origin
        xyz="-0.01852 1.4156E-09 0.011673"
        rpy="0 0 0" />
      <mass
        value="0.031448" />
      <inertia
        ixx="3.8092E-06"
        ixy="-6.5397E-13"
        ixz="-4.6528E-07"
        iyy="1.2663E-05"
        iyz="1.6914E-13"
        izz="1.5928E-05" />
    </inertial>
    <visual>
      <origin
        xyz="0 0 0"
        rpy="0 0 0" />
      <geometry>
        <mesh
          filename="../meshes/left_ankle_pitch_motor2_link.STL" />
      </geometry>
      <material
        name="">
        <color
          rgba="0.75294 0.75294 0.75294 1" />
      </material>
    </visual>
    <!-- <collision>
      <origin
        xyz="0 0 0"
        rpy="0 0 0" />
      <geometry>
        <mesh
          filename="../meshes/left_ankle_pitch_motor2_link.STL" />
      </geometry>
    </collision> -->
  </link>
  <joint
    name="left_ankle_pitch_motor2_joint"
    type="fixed">
    <origin
      xyz="0.0175 -0.12287 0.023"
      rpy="0 0 0.20869" />
    <parent
      link="left_knee_link" />
    <child
      link="left_ankle_pitch_motor2_link" />
    <axis
      xyz="0 0 1" />
    <limit
      lower="-4"
      upper="4"
      effort="50"
      velocity="12" />
    <dynamics
      damping="0."
      friction="0." />
  </joint>
  <link
    name="left_ankle_pitch_linkage2_link">
    <inertial>
      <origin
        xyz="0.097472 -0.002115 -2.9693E-05"
        rpy="0 0 0" />
      <mass
        value="0.050552" />
      <inertia
        ixx="1.1455E-06"
        ixy="-3.1638E-06"
        ixz="-4.4417E-08"
        iyy="0.0002065"
        iyz="-8.5102E-09"
        izz="0.0002071" />
    </inertial>
    <visual>
      <origin
        xyz="0 0 0"
        rpy="0 0 0" />
      <geometry>
        <mesh
          filename="../meshes/left_ankle_pitch_linkage2_link.STL" />
      </geometry>
      <material
        name="">
        <color
          rgba="0.75294 0.75294 0.75294 1" />
      </material>
    </visual>
    <!-- <collision>
      <origin
        xyz="0 0 0"
        rpy="0 0 0" />
      <geometry>
        <mesh
          filename="../meshes/left_ankle_pitch_linkage2_link.STL" />
      </geometry>
    </collision> -->
  </link>
  <joint
    name="left_ankle_pitch_linkage2_joint"
    type="fixed">
    <origin
      xyz="-0.045 0 0"
      rpy="0 0 -1.8165" />
    <parent
      link="left_ankle_pitch_motor2_link" />
    <child
      link="left_ankle_pitch_linkage2_link" />
    <axis
      xyz="0 0 1" />
    <limit
      lower="-4"
      upper="4"
      effort="50"
      velocity="12" />
    <dynamics
      damping="0."
      friction="0." />
  </joint>
  <link
    name="left_knee_motor_link">
    <inertial>
      <origin
        xyz="0.0052166 2.2204E-16 0.023896"
        rpy="0 0 0" />
      <mass
        value="0.1157" />
      <inertia
        ixx="2.9641E-05"
        ixy="-4.2352E-21"
        ixz="1.1846E-06"
        iyy="4.4949E-05"
        iyz="5.7175E-21"
        izz="7.1289E-05" />
    </inertial>
    <visual>
      <origin
        xyz="0 0 0"
        rpy="0 0 0" />
      <geometry>
        <mesh
          filename="../meshes/left_knee_motor_link.STL" />
      </geometry>
      <material
        name="">
        <color
          rgba="0.75294 0.75294 0.75294 1" />
      </material>
    </visual>
    <!-- <collision>
      <origin
        xyz="0 0 0"
        rpy="0 0 0" />
      <geometry>
        <mesh
          filename="../meshes/left_knee_motor_link.STL" />
      </geometry>
    </collision> -->
  </link>
  <joint
    name="left_knee_motor_joint"
    type="fixed">
    <origin
      xyz="-0.006 -0.1401 0"
      rpy="0 0 0.043633" />
    <parent
      link="left_leg_pitch_link" />
    <child
      link="left_knee_motor_link" />
    <axis
      xyz="0 0 1" />
    <limit
      lower="-4"
      upper="4"
      effort="250"
      velocity="12" />
    <dynamics
      damping="0."
      friction="0." />
  </joint>
  <link
    name="left_knee_linkage_link">
    <inertial>
      <origin
        xyz="0.095126 -1.9429E-16 0.017621"
        rpy="0 0 0" />
      <mass
        value="0.17943" />
      <inertia
        ixx="3.3456E-05"
        ixy="-3.6422E-19"
        ixz="9.918E-05"
        iyy="0.0005293"
        iyz="7.4539E-20"
        izz="0.00050164" />
    </inertial>
    <visual>
      <origin
        xyz="0 0 0"
        rpy="0 0 0" />
      <geometry>
        <mesh
          filename="../meshes/left_knee_linkage_link.STL" />
      </geometry>
      <material
        name="">
        <color
          rgba="0.75294 0.75294 0.75294 1" />
      </material>
    </visual>
    <!-- <collision>
      <origin
        xyz="0 0 0"
        rpy="0 0 0" />
      <geometry>
        <mesh
          filename="../meshes/left_knee_linkage_link.STL" />
      </geometry>
    </collision> -->
  </link>
  <joint
    name="left_knee_linkage_joint"
    type="fixed">
    <origin
      xyz="0.045 0 0"
      rpy="0 0 -1.5811" />
    <parent
      link="left_knee_motor_link" />
    <child
      link="left_knee_linkage_link" />
    <axis
      xyz="0 0 1" />
    <limit
      lower="-4"
      upper="4"
      effort="250"
      velocity="12" />
    <dynamics
      damping="0."
      friction="0." />
  </joint>

  <!--right leg  --> 
  <link
    name="right_leg_roll_link">
    <inertial>
      <origin
        xyz="-0.0048592 0.00012789 -0.0028082"
        rpy="0 0 0" />
      <mass
        value="1.7968" />
      <inertia
        ixx="0.00366"
        ixy="-2.9821E-07"
        ixz="3.4702E-05"
        iyy="0.0026951"
        iyz="-3.6592E-08"
        izz="0.0025009" />
    </inertial>
    <visual>
      <origin
        xyz="0 0 0"
        rpy="0 0 0" />
      <geometry>
        <mesh
          filename="../meshes/right_leg_roll_link.STL" />
      </geometry>
      <material
        name="">
        <color
          rgba="0.75294 0.75294 0.75294 1" />
      </material>
    </visual>
    <!-- <collision>
      <origin
        xyz="0 0 0"
        rpy="0 0 0" />
      <geometry>
        <mesh
          filename="../meshes/right_leg_roll_link.STL" />
      </geometry>
    </collision> -->
  </link>
  <joint
    name="right_leg_roll_joint"
    type="revolute">
    <origin
      xyz="-0.117 -0.032 0"
      rpy="0 0 -1.5708" />
    <parent
      link="waist_roll_link" />
    <child
      link="right_leg_roll_link" />
    <axis
      xyz="0 0 1" />
    <limit
      lower="-1.57"
      upper="0.44"
      effort="100"
      velocity="12" />
    <dynamics
      damping="0."
      friction="0." />
  </joint>
  <link
    name="right_leg_yaw_link">
    <inertial>
      <origin
        xyz="-0.0013541 -0.014654 0.077539"
        rpy="0 0 0" />
      <mass
        value="0.61483" />
      <inertia
        ixx="0.0012242"
        ixy="6.7341E-07"
        ixz="-2.2333E-05"
        iyy="0.0013918"
        iyz="0.00022312"
        izz="0.00048585" />
    </inertial>
    <visual>
      <origin
        xyz="0 0 0"
        rpy="0 0 0" />
      <geometry>
        <mesh
          filename="../meshes/right_leg_yaw_link.STL" />
      </geometry>
      <material
        name="">
        <color
          rgba="0.75294 0.75294 0.75294 1" />
      </material>
    </visual>
    <!-- <collision>
      <origin
        xyz="0 0 0"
        rpy="0 0 0" />
      <geometry>
        <mesh
          filename="../meshes/right_leg_yaw_link.STL" />
      </geometry>
    </collision> -->
  </link>
  <joint
    name="right_leg_yaw_joint"
    type="revolute">
    <origin
      xyz="0 0 0"
      rpy="3.1416 -1.5708 0" />
    <parent
      link="right_leg_roll_link" />
    <child
      link="right_leg_yaw_link" />
    <axis
      xyz="0 0 1" />
    <limit
      lower="-1.05"
      upper="1.05"
      effort="100"
      velocity="12" />
    <dynamics
      damping="0."
      friction="0." />
  </joint>
  <link
    name="right_leg_pitch_link">
    <inertial>
      <origin
        xyz="-0.002765 0.078563 -0.0082909"
        rpy="0 0 0" />
      <mass
        value="6.0357" />
      <inertia
        ixx="0.022938"
        ixy="-0.00028874"
        ixz="-1.0823E-05"
        iyy="0.0093892"
        iyz="0.00019005"
        izz="0.030611" />
    </inertial>
    <visual>
      <origin
        xyz="0 0 0"
        rpy="0 0 0" />
      <geometry>
        <mesh
          filename="../meshes/right_leg_pitch_link.STL" />
      </geometry>
      <material
        name="">
        <color
          rgba="0.75294 0.75294 0.75294 1" />
      </material>
    </visual>
    <collision>
      <origin
        xyz="0 0 0"
        rpy="0 0 0" />
      <geometry>
        <mesh
          filename="../meshes/right_leg_pitch_link.STL" />
      </geometry>
    </collision>
  </link>
  <joint
    name="right_leg_pitch_joint"
    type="revolute">
    <origin
      xyz="0 0 0.1455"
      rpy="1.5708 0.5236 0" />
    <parent
      link="right_leg_yaw_link" />
    <child
      link="right_leg_pitch_link" />
    <axis
      xyz="0 0 -1" />
    <limit
      lower="-1.31"
      upper="1.57"
      effort="250"
      velocity="12" />
    <dynamics
      damping="0."
      friction="0." />
  </joint>
  <link
    name="right_knee_link">
    <inertial>
      <origin
        xyz="0.0157 0.10784 8.556E-05"
        rpy="0 0 0" />
      <mass
        value="2.2302" />
      <inertia
        ixx="0.0087192"
        ixy="0.00020115"
        ixz="-4.6565E-08"
        iyy="0.0015781"
        iyz="2.3363E-06"
        izz="0.0088655" />
    </inertial>
    <visual>
      <origin
        xyz="0 0 0"
        rpy="0 0 0" />
      <geometry>
        <mesh
          filename="../meshes/right_knee_link.STL" />
      </geometry>
      <material
        name="">
        <color
          rgba="0.75294 0.75294 0.75294 1" />
      </material>
    </visual>
    <collision>
      <origin
        xyz="0 0 0"
        rpy="0 0 0" />
      <geometry>
        <mesh
          filename="../meshes/right_knee_link.STL" />
      </geometry>
    </collision>
  </link>
  <joint
    name="right_knee_joint"
    type="revolute">
    <origin
      xyz="0 0.32 0"
      rpy="0 0 1.0472" />
    <parent
      link="right_leg_pitch_link" />
    <child
      link="right_knee_link" />
    <axis
      xyz="0 0 1" />
    <limit
      lower="-1.1"
      upper="1.05"
      effort="250"
      velocity="12" />
    <dynamics
      damping="0."
      friction="0." />
  </joint>
  <link
    name="right_ankle_pitch_link">
    <inertial>
      <origin
        xyz="-1.55228117536201E-14 1.11022302462516E-16 -8.32667268468867E-17"
        rpy="0 0 0" />
      <mass
        value="0.0990000414231859" />
      <inertia
        ixx="4.40457123422134E-06"
        ixy="3.12475748198032E-22"
        ixz="1.56237874099016E-21"
        iyy="1.89085426072733E-05"
        iyz="7.81189370495079E-23"
        izz="1.89085426072733E-05" />
    </inertial>
    <visual>
      <origin
        xyz="0 0 0"
        rpy="0 0 0" />
      <geometry>
        <mesh
          filename="../meshes/right_ankle_pitch_link.STL" />
      </geometry>
      <material
        name="">
        <color
          rgba="0.752941176470588 0.752941176470588 0.752941176470588 1" />
      </material>
    </visual>
    <!-- <collision>
      <origin
        xyz="0 0 0"
        rpy="0 0 0" />
      <geometry>
        <mesh
          filename="../meshes/right_ankle_pitch_link.STL" />
      </geometry>
    </collision> -->
  </link>
  <joint
    name="right_ankle_pitch_joint"
    type="revolute">
    <origin
      xyz="0 0.32 0"
      rpy="3.1416 0 -0.5236" />
    <parent
      link="right_knee_link" />
    <child
      link="right_ankle_pitch_link" />
    <axis
      xyz="0 0 1" />
    <limit
      lower="-0.87"
      upper="0.7"
      effort="100"
      velocity="12" />
    <dynamics
      damping="0."
      friction="0.1" />
  </joint>
  <link
    name="right_ankle_roll_link">
    <inertial>
      <origin
        xyz="-1.8693E-06 -0.033529 0.02588"
        rpy="0 0 0" />
      <mass
        value="0.34253" />
      <inertia
        ixx="0.00084831"
        ixy="-5.637E-10"
        ixz="1.7502E-08"
        iyy="0.00093604"
        iyz="1.1636E-05"
        izz="0.00012758" />
    </inertial>
    <visual>
      <origin
        xyz="0 0 0"
        rpy="0 0 0" />
      <geometry>
        <mesh
          filename="../meshes/right_ankle_roll_link.STL" />
      </geometry>
      <material
        name="">
        <color
          rgba="0.75294 0.75294 0.75294 1" />
      </material>
    </visual>
    <collision>
      <origin
        xyz="0 0 0"
        rpy="0 0 0" />
      <geometry>
        <mesh
          filename="../meshes/right_ankle_roll_link.STL" />
      </geometry>
    </collision>
  </link>
  <joint
    name="right_ankle_roll_joint"
    type="revolute">
    <origin
      xyz="0 0 0"
      rpy="0 1.5708 0" />
    <parent
      link="right_ankle_pitch_link" />
    <child
      link="right_ankle_roll_link" />
    <axis
      xyz="0 0 1" />
    <limit
      lower="-0.44"
      upper="0.44"
      effort="100"
      velocity="12" />
    <dynamics
      damping="0."
      friction="0.1" />
  </joint>
  <link
    name="right_foot_ee_link">
    <inertial>
      <origin
        xyz="8.9304E-15 0.234 0.0055"
        rpy="0 0 0" />
      <mass
        value="0.000975" />
      <inertia
        ixx="4.0625E-09"
        ixy="-1.0877E-23"
        ixz="-1.7125E-23"
        iyy="4.0625E-09"
        iyz="-1.7854E-23"
        izz="4.0625E-09" />
    </inertial>
    <visual>
      <origin
        xyz="0 0 0"
        rpy="0 0 0" />
      <geometry>
        <mesh
          filename="../meshes/right_foot_ee_link.STL" />
      </geometry>
      <material
        name="">
        <color
          rgba="0.75294 0.75294 0.75294 1" />
      </material>
    </visual>
    <!-- <collision>
      <origin
        xyz="0 0 0"
        rpy="0 0 0" />
      <geometry>
        <mesh
          filename="../meshes/right_foot_ee_link.STL" />
      </geometry>
    </collision> -->
  </link>
  <joint
    name="right_foot_ee_joint"
    type="fixed">
    <origin
      xyz="0 -0.056 0"
      rpy="-1.5708 -1.5708 0" />
    <parent
      link="right_ankle_roll_link" />
    <child
      link="right_foot_ee_link" />
    <axis
      xyz="0 0 0" />
  </joint>
  <link
    name="right_ankle_pitch_motor1_link">
    <inertial>
      <origin
        xyz="0.01852 -1.4136E-09 0.011673"
        rpy="0 0 0" />
      <mass
        value="0.031448" />
      <inertia
        ixx="3.8092E-06"
        ixy="-6.6708E-13"
        ixz="4.6528E-07"
        iyy="1.2663E-05"
        iyz="-1.6738E-13"
        izz="1.5928E-05" />
    </inertial>
    <visual>
      <origin
        xyz="0 0 0"
        rpy="0 0 0" />
      <geometry>
        <mesh
          filename="../meshes/right_ankle_pitch_motor1_link.STL" />
      </geometry>
      <material
        name="">
        <color
          rgba="0.75294 0.75294 0.75294 1" />
      </material>
    </visual>
    <!-- <collision>
      <origin
        xyz="0 0 0"
        rpy="0 0 0" />
      <geometry>
        <mesh
          filename="../meshes/right_ankle_pitch_motor1_link.STL" />
      </geometry>
    </collision> -->
  </link>
  <joint
    name="right_ankle_pitch_motor1_joint"
    type="fixed">
    <origin
      xyz="0.015 0.052915 -0.023"
      rpy="3.1416 0 2.936" />
    <parent
      link="right_knee_link" />
    <child
      link="right_ankle_pitch_motor1_link" />
    <axis
      xyz="0 0 1" />
    <limit
      lower="-4"
      upper="4"
      effort="50"
      velocity="12" />
    <dynamics
      damping="0."
      friction="0." />
  </joint>
  <link
    name="right_ankle_pitch_linkage1_link">
    <inertial>
      <origin
        xyz="0.13224 -0.0023241 -2.7751E-05"
        rpy="0 0 0" />
      <mass
        value="0.066732" />
      <inertia
        ixx="1.4166E-06"
        ixy="-5.8871E-06"
        ixz="-7.0295E-08"
        iyy="0.00047775"
        iyz="-8.4139E-09"
        izz="0.00047846" />
    </inertial>
    <visual>
      <origin
        xyz="0 0 0"
        rpy="0 0 0" />
      <geometry>
        <mesh
          filename="../meshes/right_ankle_pitch_linkage1_link.STL" />
      </geometry>
      <material
        name="">
        <color
          rgba="0.75294 0.75294 0.75294 1" />
      </material>
    </visual>
    <!-- <collision>
      <origin
        xyz="0 0 0"
        rpy="0 0 0" />
      <geometry>
        <mesh
          filename="../meshes/right_ankle_pitch_linkage1_link.STL" />
      </geometry>
    </collision> -->
  </link>
  <joint
    name="right_ankle_pitch_linkage1_joint"
    type="fixed">
    <origin
      xyz="0.045 0 0"
      rpy="0 0 1.3474" />
    <parent
      link="right_ankle_pitch_motor1_link" />
    <child
      link="right_ankle_pitch_linkage1_link" />
    <axis
      xyz="0 0 1" />
    <limit
      lower="-4"
      upper="4"
      effort="50"
      velocity="12" />
    <dynamics
      damping="0."
      friction="0." />
  </joint>
  <link
    name="right_ankle_pitch_motor2_link">
    <inertial>
      <origin
        xyz="0.01852 3.0386E-09 0.011673"
        rpy="0 0 0" />
      <mass
        value="0.031448" />
      <inertia
        ixx="3.8092E-06"
        ixy="5.1412E-13"
        ixz="4.6528E-07"
        iyy="1.2663E-05"
        iyz="-2.4423E-13"
        izz="1.5928E-05" />
    </inertial>
    <visual>
      <origin
        xyz="0 0 0"
        rpy="0 0 0" />
      <geometry>
        <mesh
          filename="../meshes/right_ankle_pitch_motor2_link.STL" />
      </geometry>
      <material
        name="">
        <color
          rgba="0.75294 0.75294 0.75294 1" />
      </material>
    </visual>
    <!-- <collision>
      <origin
        xyz="0 0 0"
        rpy="0 0 0" />
      <geometry>
        <mesh
          filename="../meshes/right_ankle_pitch_motor2_link.STL" />
      </geometry>
    </collision> -->
  </link>
  <joint
    name="right_ankle_pitch_motor2_joint"
    type="fixed">
    <origin
      xyz="0.0175 0.12287 0.023"
      rpy="0 0 2.9329" />
    <parent
      link="right_knee_link" />
    <child
      link="right_ankle_pitch_motor2_link" />
    <axis
      xyz="0 0 1" />
    <limit
      lower="-4"
      upper="4"
      effort="50"
      velocity="12" />
    <dynamics
      damping="0."
      friction="0." />
  </joint>
  <link
    name="right_ankle_pitch_linkage2_link">
    <inertial>
      <origin
        xyz="0.097472 0.002115 -2.9693E-05"
        rpy="0 0 0" />
      <mass
        value="0.050552" />
      <inertia
        ixx="1.1455E-06"
        ixy="3.1638E-06"
        ixz="-4.4417E-08"
        iyy="0.0002065"
        iyz="8.5102E-09"
        izz="0.0002071" />
    </inertial>
    <visual>
      <origin
        xyz="0 0 0"
        rpy="0 0 0" />
      <geometry>
        <mesh
          filename="../meshes/right_ankle_pitch_linkage2_link.STL" />
      </geometry>
      <material
        name="">
        <color
          rgba="0.75294 0.75294 0.75294 1" />
      </material>
    </visual>
    <!-- <collision>
      <origin
        xyz="0 0 0"
        rpy="0 0 0" />
      <geometry>
        <mesh
          filename="../meshes/right_ankle_pitch_linkage2_link.STL" />
      </geometry>
    </collision> -->
  </link>
  <joint
    name="right_ankle_pitch_linkage2_joint"
    type="fixed">
    <origin
      xyz="0.045 0 0"
      rpy="0 0 -1.3251" />
    <parent
      link="right_ankle_pitch_motor2_link" />
    <child
      link="right_ankle_pitch_linkage2_link" />
    <axis
      xyz="0 0 1" />
    <limit
      lower="-4"
      upper="4"
      effort="50"
      velocity="12" />
    <dynamics
      damping="0."
      friction="0." />
  </joint>
  <link
    name="right_knee_motor_link">
    <inertial>
      <origin
        xyz="0.0052166 -5.5511E-17 0.023896"
        rpy="0 0 0" />
      <mass
        value="0.1157" />
      <inertia
        ixx="2.9641E-05"
        ixy="-7.6233E-21"
        ixz="1.1846E-06"
        iyy="4.4949E-05"
        iyz="1.2705E-21"
        izz="7.1289E-05" />
    </inertial>
    <visual>
      <origin
        xyz="0 0 0"
        rpy="0 0 0" />
      <geometry>
        <mesh
          filename="../meshes/right_knee_motor_link.STL" />
      </geometry>
      <material
        name="">
        <color
          rgba="0.75294 0.75294 0.75294 1" />
      </material>
    </visual>
    <!-- <collision>
      <origin
        xyz="0 0 0"
        rpy="0 0 0" />
      <geometry>
        <mesh
          filename="../meshes/right_knee_motor_link.STL" />
      </geometry>
    </collision> -->
  </link>
  <joint
    name="right_knee_motor_joint"
    type="fixed">
    <origin
      xyz="-0.006 0.1401 0"
      rpy="0 0 -0.043633" />
    <parent
      link="right_leg_pitch_link" />
    <child
      link="right_knee_motor_link" />
    <axis
      xyz="0 0 1" />
    <limit
      lower="-4"
      upper="4"
      effort="250"
      velocity="12" />
    <dynamics
      damping="0."
      friction="0." />
  </joint>
  <link
    name="right_knee_linkage_link">
    <inertial>
      <origin
        xyz="0.095126 0 0.017621"
        rpy="0 0 0" />
      <mass
        value="0.17943" />
      <inertia
        ixx="3.3456E-05"
        ixy="-2.3802E-19"
        ixz="9.918E-05"
        iyy="0.0005293"
        iyz="6.0986E-20"
        izz="0.00050164" />
    </inertial>
    <visual>
      <origin
        xyz="0 0 0"
        rpy="0 0 0" />
      <geometry>
        <mesh
          filename="../meshes/right_knee_linkage_link.STL" />
      </geometry>
      <material
        name="">
        <color
          rgba="0.75294 0.75294 0.75294 1" />
      </material>
    </visual>
    <!-- <collision>
      <origin
        xyz="0 0 0"
        rpy="0 0 0" />
      <geometry>
        <mesh
          filename="../meshes/right_knee_linkage_link.STL" />
      </geometry>
    </collision> -->
  </link>
  <joint
    name="right_knee_linkage_joint"
    type="fixed">
    <origin
      xyz="0.045 0 0"
      rpy="0 0 1.5811" />
    <parent
      link="right_knee_motor_link" />
    <child
      link="right_knee_linkage_link" />
    <axis
      xyz="0 0 1" />
    <limit
      lower="-4"
      upper="4"
      effort="250"
      velocity="12" />
    <dynamics
      damping="0."
      friction="0." />
  </joint>

  <!--left hand-->
   <link
    name="left_hand_link">
    <inertial>
      <origin
        xyz="-0.0004446960229277 0.00281572153706024 -0.0580782201323042"
        rpy="0 0 0" />
      <mass
        value="0.0.0" />
      <inertia
        ixx="0.0"
        ixy="0.0"
        ixz="0.0"
        iyy="0.0"
        iyz="0.0"
        izz="0.0" />
    </inertial>
    <visual>
      <origin
        xyz="0 0 0"
        rpy="0 0 0" />
      <geometry>
        <mesh
          filename="../meshes/left_hand_link.STL" />
      </geometry>
      <material
        name="">
        <color
          rgba="0.698039215686274 0.698039215686274 0.698039215686274 1" />
      </material>
    </visual>
    <collision>
      <origin
        xyz="0 0 0"
        rpy="0 0 0" />
      <geometry>
        <mesh
          filename="../meshes/left_hand_link.STL" />
      </geometry>
    </collision>
  </link>
  <joint
    name="left_hand_fixed_joint"
    type="fixed">
    <origin
      xyz="0.0 0 0.1135"
      rpy="0 3.1415926 3.1415926" />
    <parent
      link="left_wrist_yaw_link" />
    <child
      link="left_hand_link" />
  </joint>
  <link
    name="left_hand_thumb_bend_link">
    <inertial>
      <origin
        xyz="0.0179386429344406 -0.00293076802887762 0.00225000000000058"
        rpy="0 0 0" />
      <mass
        value="0.0.0" />
      <inertia
        ixx="0.0"
        ixy="0.0"
        ixz="0.0"
        iyy="0.0"
        iyz="0.0"
        izz="0.0" />
    </inertial>
    <visual>
      <origin
        xyz="0 0 0"
        rpy="0 0 0" />
      <geometry>
        <mesh
          filename="../meshes/left_hand_thumb_bend_link.STL" />
      </geometry>
      <material
        name="">
        <color
          rgba="0.698039215686274 0.698039215686274 0.698039215686274 1" />
      </material>
    </visual>
    <collision>
      <origin
        xyz="0 0 0"
        rpy="0 0 0" />
      <geometry>
        <mesh
          filename="../meshes/left_hand_thumb_bend_link.STL" />
      </geometry>
    </collision>
  </link>
  <joint
    name="left_hand_thumb_bend_joint"
    type="fixed">
    <origin
      xyz="0.02503 -0.013 -0.03275"
      rpy="0 0 0" />
    <parent
      link="left_hand_link" />
    <child
      link="left_hand_thumb_bend_link" />
    <axis
      xyz="0 0 1" />
    <limit
      lower="-2.0"
      upper="2.0"
      effort="0.0"
      velocity="0.0" />
    <dynamics
      damping="1"
      friction="1" />
  </joint>
  <link
    name="left_hand_thumb_rota_link1">
    <inertial>
      <origin
        xyz="0.0300000050134235 -1.02163902337971E-10 0.000523850476663684"
        rpy="0 0 0" />
      <mass
        value="0.0.0" />
      <inertia
        ixx="0.0"
        ixy="0.0"
        ixz="0.0"
        iyy="0.0"
        iyz="0.0"
        izz="0.0" />
    </inertial>
    <visual>
      <origin
        xyz="0 0 0"
        rpy="0 0 0" />
      <geometry>
        <mesh
          filename="../meshes/left_hand_thumb_rota_link1.STL" />
      </geometry>
      <material
        name="">
        <color
          rgba="0.698039215686274 0.698039215686274 0.698039215686274 1" />
      </material>
    </visual>
    <collision>
      <origin
        xyz="0 0 0"
        rpy="0 0 0" />
      <geometry>
        <mesh
          filename="../meshes/left_hand_thumb_rota_link1.STL" />
      </geometry>
    </collision>
  </link>
  <joint
    name="left_hand_thumb_rota_joint1"
    type="fixed">
    <origin
      xyz="0.032173 -0.0035045 0.00225"
      rpy="0 0 0" />
    <parent
      link="left_hand_thumb_bend_link" />
    <child
      link="left_hand_thumb_rota_link1" />
    <axis
      xyz="0 1 0" />
    <limit
      lower="-2.0"
      upper="2.0"
      effort="0.0"
      velocity="0.0" />
    <dynamics
      damping="1"
      friction="1" />
  </joint>
  <link
    name="left_hand_thumb_rota_link2">
    <inertial>
      <origin
        xyz="0.0212369362539032 3.76688634729297E-06 0.000805499878558189"
        rpy="0 0 0" />
      <mass
        value="0.0.0" />
      <inertia
        ixx="0.0"
        ixy="0.0"
        ixz="0.0"
        iyy="0.0"
        iyz="0.0"
        izz="0.0" />
    </inertial>
    <visual>
      <origin
        xyz="0 0 0"
        rpy="0 0 0" />
      <geometry>
        <mesh
          filename="../meshes/left_hand_thumb_rota_link2.STL" />
      </geometry>
      <material
        name="">
        <color
          rgba="0.698039215686274 0.698039215686274 0.698039215686274 1" />
      </material>
    </visual>
    <collision>
      <origin
        xyz="0 0 0"
        rpy="0 0 0" />
      <geometry>
        <mesh
          filename="../meshes/left_hand_thumb_rota_link2.STL" />
      </geometry>
    </collision>
  </link>
  <joint
    name="left_hand_thumb_rota_joint2"
    type="fixed">
    <origin
      xyz="0.06 0 0"
      rpy="0 0 0" />
    <parent
      link="left_hand_thumb_rota_link1" />
    <child
      link="left_hand_thumb_rota_link2" />
    <axis
      xyz="0 1 0" />
    <limit
      lower="-2.0"
      upper="2.0"
      effort="0.0"
      velocity="0.0" />
    <dynamics
      damping="1"
      friction="1" />
  </joint>
  <link
    name="left_hand_thumb_tip">
    <inertial>
      <origin
        xyz="2.77555756156289E-17 2.18922102668273E-15 -1.17614251671228E-15"
        rpy="0 0 0" />
      <mass
        value="0.0.0" />
      <inertia
        ixx="0.0"
        ixy="0.0"
        ixz="0.0"
        iyy="0.0"
        iyz="0.0"
        izz="0.0" />
    </inertial>
    <visual>
      <origin
        xyz="0 0 0"
        rpy="0 0 0" />
      <geometry>
        <mesh
          filename="../meshes/left_hand_thumb_tip.STL" />
      </geometry>
      <material
        name="">
        <color
          rgba="0.698039215686274 0.698039215686274 0.698039215686274 1" />
      </material>
    </visual>
    <collision>
      <origin
        xyz="0 0 0"
        rpy="0 0 0" />
      <geometry>
        <mesh
          filename="../meshes/left_hand_thumb_tip.STL" />
      </geometry>
    </collision>
  </link>
  <joint
    name="left_hand_thumb_tip_joint"
    type="fixed">
    <origin
      xyz="0.051457 0 0"
      rpy="0 0 0" />
    <parent
      link="left_hand_thumb_rota_link2" />
    <child
      link="left_hand_thumb_tip" />
    <axis
      xyz="0 0 0" />
  </joint>
 <link
    name="left_hand_index_rota_link1">
    <inertial>
      <origin
        xyz="3.99136486999713E-06 0.00165196763865699 -0.0418295886915027"
        rpy="0 0 0" />
      <mass
        value="0.0792128309616318" />
      <inertia
        ixx="2.7317921078962E-05"
        ixy="-3.12074785307059E-09"
        ixz="-1.14039594573647E-09"
        iyy="2.58685008629742E-05"
        iyz="-5.29252413650239E-07"
        izz="6.13281889095743E-06" />
    </inertial>
    <visual>
      <origin
        xyz="0 0 0"
        rpy="0 0 0" />
      <geometry>
        <mesh
          filename="../meshes/left_hand_index_rota_link1.STL" />
      </geometry>
      <material
        name="">
        <color
          rgba="0.698039215686274 0.698039215686274 0.698039215686274 1" />
      </material>
    </visual>
    <collision>
      <origin
        xyz="0 0 0"
        rpy="0 0 0" />
      <geometry>
        <mesh
          filename="../meshes/left_hand_index_rota_link1.STL" />
      </geometry>
    </collision>
  </link>
  <joint
    name="left_hand_index_joint1"
    type="fixed">
    <origin
      xyz="0.03583 0 -0.1067"
      rpy="0 0 0" />
    <parent
      link="left_hand_link" />
    <child
      link="left_hand_index_rota_link1" />
    <axis
      xyz="1 0 0" />
    <limit
      lower="-1.57"
      upper="0.24"
      effort="0.56"
      velocity="9.82" />
    <dynamics
      damping="1"
      friction="1" />
  </joint>
  <link
    name="left_hand_index_rota_link2">
    <inertial>
      <origin
        xyz="1.23620880268516E-08 0.000272146436219044 -0.0237372832197695"
        rpy="0 0 0" />
      <mass
        value="0.0.0" />
      <inertia
        ixx="0.0"
        ixy="0.0"
        ixz="0.0"
        iyy="0.0"
        iyz="0.0"
        izz="0.0" />
    </inertial>
    <visual>
      <origin
        xyz="0 0 0"
        rpy="0 0 0" />
      <geometry>
        <mesh
          filename="../meshes/left_hand_index_rota_link2.STL" />
      </geometry>
      <material
        name="">
        <color
          rgba="0.698039215686274 0.698039215686274 0.698039215686274 1" />
      </material>
    </visual>
    <collision>
      <origin
        xyz="0 0 0"
        rpy="0 0 0" />
      <geometry>
        <mesh
          filename="../meshes/left_hand_index_rota_link2.STL" />
      </geometry>
    </collision>
  </link>
  <joint
    name="left_hand_index_joint2"
    type="fixed">
    <origin
      xyz="0 0 -0.06675"
      rpy="0 0 0" />
    <parent
      link="left_hand_index_rota_link1" />
    <child
      link="left_hand_index_rota_link2" />
    <axis
      xyz="1 0 0" />
    <limit
      lower="-2.0"
      upper="2.0"
      effort="0.0"
      velocity="0.0" />
    <dynamics
      damping="1"
      friction="1" />
  </joint>
  <link
    name="left_hand_index_tip">
    <inertial>
      <origin
        xyz="0 8.08381139805192E-16 -2.77555756156289E-17"
        rpy="0 0 0" />
      <mass
        value="0.0.0" />
      <inertia
        ixx="0.0"
        ixy="0.0"
        ixz="0.0"
        iyy="0.0"
        iyz="0.0"
        izz="0.0" />
    </inertial>
    <visual>
      <origin
        xyz="0 0 0"
        rpy="0 0 0" />
      <geometry>
        <mesh
          filename="../meshes/left_hand_index_tip.STL" />
      </geometry>
      <material
        name="">
        <color
          rgba="0.698039215686274 0.698039215686274 0.698039215686274 1" />
      </material>
    </visual>
    <collision>
      <origin
        xyz="0 0 0"
        rpy="0 0 0" />
      <geometry>
        <mesh
          filename="../meshes/left_hand_index_tip.STL" />
      </geometry>
    </collision>
  </link>
  <joint
    name="left_hand_index_tip_link"
    type="fixed">
    <origin
      xyz="0 0 -0.0532473502691896"
      rpy="0 0 0" />
    <parent
      link="left_hand_index_rota_link2" />
    <child
      link="left_hand_index_tip" />
    <axis
      xyz="0 0 0" />
  </joint>
  <link
    name="left_hand_mid_link1">
    <inertial>
      <origin
        xyz="3.9568861513288E-06 0.00162087664547146 -0.0402835815589407"
        rpy="0 0 0" />
      <mass
        value="0.0.0" />
      <inertia
        ixx="0.0"
        ixy="0.0"
        ixz="0.0"
        iyy="0.0"
        iyz="0.0"
        izz="0.0" />
    </inertial>
    <visual>
      <origin
        xyz="0 0 0"
        rpy="0 0 0" />
      <geometry>
        <mesh
          filename="../meshes/left_hand_mid_link1.STL" />
      </geometry>
      <material
        name="">
        <color
          rgba="0.698039215686274 0.698039215686274 0.698039215686274 1" />
      </material>
    </visual>
    <collision>
      <origin
        xyz="0 0 0"
        rpy="0 0 0" />
      <geometry>
        <mesh
          filename="../meshes/left_hand_mid_link1.STL" />
      </geometry>
    </collision>
  </link>
  <joint
    name="left_hand_mid_joint1"
    type="fixed">
    <origin
      xyz="0.00533 -0.008 -0.1072"
      rpy="0 0 0" />
    <parent
      link="left_hand_link" />
    <child
      link="left_hand_mid_link1" />
    <axis
      xyz="1 0 0" />
    <limit
      lower="-2.0"
      upper="2.0"
      effort="0.0"
      velocity="0.0" />
    <dynamics
      damping="1"
      friction="1" />
  </joint>
  <link
    name="left_hand_mid_link2">
    <inertial>
      <origin
        xyz="1.23620879635342E-08 0.000272146436218273 -0.0237372832197703"
        rpy="0 0 0" />
      <mass
        value="0.0.0" />
      <inertia
        ixx="0.0"
        ixy="0.0"
        ixz="0.0"
        iyy="0.0"
        iyz="0.0"
        izz="0.0" />
    </inertial>
    <visual>
      <origin
        xyz="0 0 0"
        rpy="0 0 0" />
      <geometry>
        <mesh
          filename="../meshes/left_hand_mid_link2.STL" />
      </geometry>
      <material
        name="">
        <color
          rgba="0.698039215686274 0.698039215686274 0.698039215686274 1" />
      </material>
    </visual>
    <collision>
      <origin
        xyz="0 0 0"
        rpy="0 0 0" />
      <geometry>
        <mesh
          filename="../meshes/left_hand_mid_link2.STL" />
      </geometry>
    </collision>
  </link>
  <joint
    name="left_hand_mid_joint2"
    type="fixed">
    <origin
      xyz="0 0 -0.06525"
      rpy="0 0 0" />
    <parent
      link="left_hand_mid_link1" />
    <child
      link="left_hand_mid_link2" />
    <axis
      xyz="1 0 0" />
    <limit
      lower="-2.0"
      upper="2.0"
      effort="0.0"
      velocity="0.0" />
    <dynamics
      damping="1"
      friction="1" />
  </joint>
  <link
    name="left_hand_mid_tip">
    <inertial>
      <origin
        xyz="0 0 0"
        rpy="0 0 0" />
      <mass
        value="0.0.0" />
      <inertia
        ixx="0.0"
        ixy="0.0"
        ixz="0.0"
        iyy="0.0"
        iyz="0.0"
        izz="0.0" />
    </inertial>
    <visual>
      <origin
        xyz="0 0 0"
        rpy="0 0 0" />
      <geometry>
        <mesh
          filename="../meshes/left_hand_mid_tip.STL" />
      </geometry>
      <material
        name="">
        <color
          rgba="0.698039215686274 0.698039215686274 0.698039215686274 1" />
      </material>
    </visual>
    <collision>
      <origin
        xyz="0 0 0"
        rpy="0 0 0" />
      <geometry>
        <mesh
          filename="../meshes/left_hand_mid_tip.STL" />
      </geometry>
    </collision>
  </link>
  <joint
    name="left_hand_mid_tip_joint"
    type="fixed">
    <origin
      xyz="0 0 -0.0532473502691905"
      rpy="0 0 0" />
    <parent
      link="left_hand_mid_link2" />
    <child
      link="left_hand_mid_tip" />
    <axis
      xyz="0 0 0" />
  </joint>
  <link
    name="left_hand_ring_link1">
    <inertial>
      <origin
        xyz="3.95688615132186E-06 0.00162087664547159 -0.0402835815589407"
        rpy="0 0 0" />
      <mass
        value="0.0.0" />
      <inertia
        ixx="0.0"
        ixy="0.0"
        ixz="0.0"
        iyy="0.0"
        iyz="0.0"
        izz="0.0" />
    </inertial>
    <visual>
      <origin
        xyz="0 0 0"
        rpy="0 0 0" />
      <geometry>
        <mesh
          filename="../meshes/left_hand_ring_link1.STL" />
      </geometry>
      <material
        name="">
        <color
          rgba="0.698039215686274 0.698039215686274 0.698039215686274 1" />
      </material>
    </visual>
    <collision>
      <origin
        xyz="0 0 0"
        rpy="0 0 0" />
      <geometry>
        <mesh
          filename="../meshes/left_hand_ring_link1.STL" />
      </geometry>
    </collision>
  </link>
  <joint
    name="left_hand_ring_joint1"
    type="fixed">
    <origin
      xyz="-0.01867 -0.008 -0.1032"
      rpy="0 0 0" />
    <parent
      link="left_hand_link" />
    <child
      link="left_hand_ring_link1" />
    <axis
      xyz="1 0 0" />
    <limit
      lower="-2.0"
      upper="2.0"
      effort="0.0"
      velocity="0.0" />
    <dynamics
      damping="1"
      friction="1" />
  </joint>
  <link
    name="left_hand_ring_link2">
    <inertial>
      <origin
        xyz="1.23620863060059E-08 0.000272146436218248 -0.0237372832197703"
        rpy="0 0 0" />
      <mass
        value="0.0.0" />
      <inertia
        ixx="0.0"
        ixy="0.0"
        ixz="0.0"
        iyy="0.0"
        iyz="0.0"
        izz="0.0" />
    </inertial>
    <visual>
      <origin
        xyz="0 0 0"
        rpy="0 0 0" />
      <geometry>
        <mesh
          filename="../meshes/left_hand_ring_link2.STL" />
      </geometry>
      <material
        name="">
        <color
          rgba="0.698039215686274 0.698039215686274 0.698039215686274 1" />
      </material>
    </visual>
    <collision>
      <origin
        xyz="0 0 0"
        rpy="0 0 0" />
      <geometry>
        <mesh
          filename="../meshes/left_hand_ring_link2.STL" />
      </geometry>
    </collision>
  </link>
  <joint
    name="left_hand_ring_joint2"
    type="fixed">
    <origin
      xyz="0 0 -0.06525"
      rpy="0 0 0" />
    <parent
      link="left_hand_ring_link1" />
    <child
      link="left_hand_ring_link2" />
    <axis
      xyz="1 0 0" />
    <limit
      lower="-2.0"
      upper="2.0"
      effort="0.0"
      velocity="0.0" />
    <dynamics
      damping="1"
      friction="1" />
  </joint>
  <link
    name="left_hand_ring_tip">
    <inertial>
      <origin
        xyz="-3.46944695195361E-18 1.73472347597681E-18 -2.77555756156289E-17"
        rpy="0 0 0" />
      <mass
        value="0.0.0" />
      <inertia
        ixx="0.0"
        ixy="0.0"
        ixz="0.0"
        iyy="0.0"
        iyz="0.0"
        izz="0.0" />
    </inertial>
    <visual>
      <origin
        xyz="0 0 0"
        rpy="0 0 0" />
      <geometry>
        <mesh
          filename="../meshes/left_hand_ring_tip.STL" />
      </geometry>
      <material
        name="">
        <color
          rgba="0.698039215686274 0.698039215686274 0.698039215686274 1" />
      </material>
    </visual>
    <collision>
      <origin
        xyz="0 0 0"
        rpy="0 0 0" />
      <geometry>
        <mesh
          filename="../meshes/left_hand_ring_tip.STL" />
      </geometry>
    </collision>
  </link>
  <joint
    name="left_hand_ring_tip_link"
    type="fixed">
    <origin
      xyz="0 0 -0.0532473502691904"
      rpy="0 0 0" />
    <parent
      link="left_hand_ring_link2" />
    <child
      link="left_hand_ring_tip" />
    <axis
      xyz="0 0 0" />
  </joint>
  <link
    name="left_hand_pinky_link1">
    <inertial>
      <origin
        xyz="3.95688615278944E-06 0.0016208766454722 -0.0402835815589405"
        rpy="0 0 0" />
      <mass
        value="0.0.0" />
      <inertia
        ixx="0.0"
        ixy="0.0"
        ixz="0.0"
        iyy="0.0"
        iyz="0.0"
        izz="0.0" />
    </inertial>
    <visual>
      <origin
        xyz="0 0 0"
        rpy="0 0 0" />
      <geometry>
        <mesh
          filename="../meshes/left_hand_pinky_link1.STL" />
      </geometry>
      <material
        name="">
        <color
          rgba="0.698039215686274 0.698039215686274 0.698039215686274 1" />
      </material>
    </visual>
    <collision>
      <origin
        xyz="0 0 0"
        rpy="0 0 0" />
      <geometry>
        <mesh
          filename="../meshes/left_hand_pinky_link1.STL" />
      </geometry>
    </collision>
  </link>
  <joint
    name="left_hand_pinky_joint1"
    type="fixed">
    <origin
      xyz="-0.04267 -0.008 -0.0992"
      rpy="0 0 0" />
    <parent
      link="left_hand_link" />
    <child
      link="left_hand_pinky_link1" />
    <axis
      xyz="1 0 0" />
    <limit
      lower="-2.0"
      upper="2.0"
      effort="0.0"
      velocity="0.0" />
    <dynamics
      damping="1"
      friction="1" />
  </joint>
  <link
    name="left_hand_pinky_link2">
    <inertial>
      <origin
        xyz="1.23620888803355E-08 0.000272146436219168 -0.0237372832197701"
        rpy="0 0 0" />
      <mass
        value="0.0.0" />
      <inertia
        ixx="0.0"
        ixy="0.0"
        ixz="0.0"
        iyy="0.0"
        iyz="0.0"
        izz="0.0" />
    </inertial>
    <visual>
      <origin
        xyz="0 0 0"
        rpy="0 0 0" />
      <geometry>
        <mesh
          filename="../meshes/left_hand_pinky_link2.STL" />
      </geometry>
      <material
        name="">
        <color
          rgba="0.698039215686274 0.698039215686274 0.698039215686274 1" />
      </material>
    </visual>
    <collision>
      <origin
        xyz="0 0 0"
        rpy="0 0 0" />
      <geometry>
        <mesh
          filename="../meshes/left_hand_pinky_link2.STL" />
      </geometry>
    </collision>
  </link>
  <joint
    name="left_hand_pinky_joint2"
    type="fixed">
    <origin
      xyz="0 0 -0.06525"
      rpy="0 0 0" />
    <parent
      link="left_hand_pinky_link1" />
    <child
      link="left_hand_pinky_link2" />
    <axis
      xyz="1 0 0" />
    <limit
      lower="-2.0"
      upper="2.0"
      effort="0.0"
      velocity="0.0" />
    <dynamics
      damping="1"
      friction="1" />
  </joint>
  <link
    name="left_hand_pinky_tip">
    <inertial>
      <origin
        xyz="0 1.73472347597681E-18 -2.77555756156289E-17"
        rpy="0 0 0" />
      <mass
        value="0.0.0" />
      <inertia
        ixx="0.0"
        ixy="0.0"
        ixz="0.0"
        iyy="0.0"
        iyz="0.0"
        izz="0.0" />
    </inertial>
    <visual>
      <origin
        xyz="0 0 0"
        rpy="0 0 0" />
      <geometry>
        <mesh
          filename="../meshes/left_hand_pinky_tip.STL" />
      </geometry>
      <material
        name="">
        <color
          rgba="0.698039215686274 0.698039215686274 0.698039215686274 1" />
      </material>
    </visual>
    <collision>
      <origin
        xyz="0 0 0"
        rpy="0 0 0" />
      <geometry>
        <mesh
          filename="../meshes/left_hand_pinky_tip.STL" />
      </geometry>
    </collision>
  </link>
  <joint
    name="left_hand_pinky_tip_link"
    type="fixed">
    <origin
      xyz="0 0 -0.0532473502691902"
      rpy="0 0 0" />
    <parent
      link="left_hand_pinky_link2" />
    <child
      link="left_hand_pinky_tip" />
    <axis
      xyz="0 0 0" />
  </joint>
  <link
    name="left_hand_ee_link">
    <inertial>
      <origin
        xyz="5.06494379885543E-19 -0.0300000000000001 -1.38777878078145E-17"
        rpy="0 0 0" />
      <mass
        value="0.0.0" />
      <inertia
        ixx="0.0"
        ixy="0.0"
        ixz="0.0"
        iyy="0.0"
        iyz="0.0"
        izz="0.0" />
    </inertial>
    <visual>
      <origin
        xyz="0 0 0"
        rpy="0 0 0" />
      <geometry>
        <mesh
          filename="../meshes/left_hand_ee_link.STL" />
      </geometry>
      <material
        name="">
        <color
          rgba="0.698039215686274 0.698039215686274 0.698039215686274 1" />
      </material>
    </visual>
    <collision>
      <origin
        xyz="0 0 0"
        rpy="0 0 0" />
      <geometry>
        <mesh
          filename="../meshes/left_hand_ee_link.STL" />
      </geometry>
    </collision>
  </link>
  <joint
    name="left_hand_ee_joint"
    type="fixed">
    <origin
      xyz="0 0 -0.08"
      rpy="0 3.1415926 3.1415926" />
    <parent
      link="left_hand_link" />
    <child
      link="left_hand_ee_link" />
    <axis
      xyz="0 0 0" />
  </joint> 

  <!--right hand-->
  <link
    name="right_hand_link">
    <inertial>
      <origin
        xyz="-0.000444704750010933 -0.00281572351045234 -0.0580782368466271"
        rpy="0 0 0" />
      <mass
        value="0.0.0" />
      <inertia
        ixx="0.0"
        ixy="0.0"
        ixz="0.0"
        iyy="0.0"
        iyz="0.0"
        izz="0.0" />
    </inertial>
    <visual>
      <origin
        xyz="0 0 0"
        rpy="0 0 0" />
      <geometry>
        <mesh
          filename="../meshes/right_hand_link.STL" />
      </geometry>
      <material
        name="">
        <color
          rgba="0.698039215686274 0.698039215686274 0.698039215686274 1" />
      </material>
    </visual>
    <collision>
      <origin
        xyz="0 0 0"
        rpy="0 0 0" />
      <geometry>
        <mesh
          filename="../meshes/right_hand_link.STL" />
      </geometry>
    </collision>
  </link>  
  <joint
    name="right_hand_fixed_joint"
    type="fixed">
    <origin
      xyz="0.0 0.0 0.1135"
      rpy="0.0 3.1415926 3.1415926" />
    <parent
      link="right_wrist_yaw_link" />
    <child
      link="right_hand_link" />
  </joint>
  <link
    name="right_hand_thumb_bend_link">
    <inertial>
      <origin
        xyz="0.0186386429344406 0.00493076802887559 0.00225000000000092"
        rpy="0 0 0" />
      <mass
        value="0.0.0" />
      <inertia
        ixx="0.0"
        ixy="0.0"
        ixz="0.0"
        iyy="0.0"
        iyz="0.0"
        izz="0.0" />
    </inertial>
    <visual>
      <origin
        xyz="0 0 0"
        rpy="0 0 0" />
      <geometry>
        <mesh
          filename="../meshes/right_hand_thumb_bend_link.STL" />
      </geometry>
      <material
        name="">
        <color
          rgba="0.698039215686274 0.698039215686274 0.698039215686274 1" />
      </material>
    </visual>
    <collision>
      <origin
        xyz="0 0 0"
        rpy="0 0 0" />
      <geometry>
        <mesh
          filename="../meshes/right_hand_thumb_bend_link.STL" />
      </geometry>
    </collision>
  </link>
  <joint
    name="right_hand_thumb_bend_joint"
    type="fixed">
    <origin
      xyz="0.02433 0.011 -0.03275"
      rpy="0 0 0" />
    <parent
      link="right_hand_link" />
    <child
      link="right_hand_thumb_bend_link" />
    <axis
      xyz="0 0 1" />
    <limit
      lower="-2.0"
      upper="2.0"
      effort="0.0"
      velocity="0.0" />
    <dynamics
      damping="1"
      friction="1" />
  </joint>
  <link
    name="right_hand_thumb_rota_link1">
    <inertial>
      <origin
        xyz="0.0300000050134138 -1.02162160675601E-10 0.000523830503773276"
        rpy="0 0 0" />
      <mass
        value="0.0.0" />
      <inertia
        ixx="0.0"
        ixy="0.0"
        ixz="0.0"
        iyy="0.0"
        iyz="0.0"
        izz="0.0" />
    </inertial>
    <visual>
      <origin
        xyz="0 0 0"
        rpy="0 0 0" />
      <geometry>
        <mesh
          filename="../meshes/right_hand_thumb_rota_link1.STL" />
      </geometry>
      <material
        name="">
        <color
          rgba="0.698039215686274 0.698039215686274 0.698039215686274 1" />
      </material>
    </visual>
    <collision>
      <origin
        xyz="0 0 0"
        rpy="0 0 0" />
      <geometry>
        <mesh
          filename="../meshes/right_hand_thumb_rota_link1.STL" />
      </geometry>
    </collision>
  </link>
  <joint
    name="right_hand_thumb_rota_joint1"
    type="fixed">
    <origin
      xyz="0.032873 0.0055045 0.00225"
      rpy="0 0 0" />
    <parent
      link="right_hand_thumb_bend_link" />
    <child
      link="right_hand_thumb_rota_link1" />
    <axis
      xyz="0 1 0" />
    <limit
      lower="-2.0"
      upper="2.0"
      effort="0.0"
      velocity="0.0" />
    <dynamics
      damping="1"
      friction="1" />
  </joint>
  <link
    name="right_hand_thumb_rota_link2">
    <inertial>
      <origin
        xyz="0.0212369362539032 3.76688634729991E-06 0.000805499878558092"
        rpy="0 0 0" />
      <mass
        value="0.0.0" />
      <inertia
        ixx="0.0"
        ixy="0.0"
        ixz="0.0"
        iyy="0.0"
        iyz="0.0"
        izz="0.0" />
    </inertial>
    <visual>
      <origin
        xyz="0 0 0"
        rpy="0 0 0" />
      <geometry>
        <mesh
          filename="../meshes/right_hand_thumb_rota_link2.STL" />
      </geometry>
      <material
        name="">
        <color
          rgba="0.698039215686274 0.698039215686274 0.698039215686274 1" />
      </material>
    </visual>
    <collision>
      <origin
        xyz="0 0 0"
        rpy="0 0 0" />
      <geometry>
        <mesh
          filename="../meshes/right_hand_thumb_rota_link2.STL" />
      </geometry>
    </collision>
  </link>
  <joint
    name="right_hand_thumb_rota_joint2"
    type="fixed">
    <origin
      xyz="0.06 0 0"
      rpy="0 0 0" />
    <parent
      link="right_hand_thumb_rota_link1" />
    <child
      link="right_hand_thumb_rota_link2" />
    <axis
      xyz="0 1 0" />
    <limit
      lower="-2.0"
      upper="2.0"
      effort="0.0"
      velocity="0.0" />
    <dynamics
      damping="1"
      friction="1" />
  </joint>
  <link
    name="right_hand_thumb_rota_tip">
    <inertial>
      <origin
        xyz="2.77555756156289E-17 0 -3.46944695195361E-18"
        rpy="0 0 0" />
      <mass
        value="0.0.0" />
      <inertia
        ixx="0.0"
        ixy="0.0"
        ixz="0.0"
        iyy="0.0"
        iyz="0.0"
        izz="0.0" />
    </inertial>
    <visual>
      <origin
        xyz="0 0 0"
        rpy="0 0 0" />
      <geometry>
        <mesh
          filename="../meshes/right_hand_thumb_rota_tip.STL" />
      </geometry>
      <material
        name="">
        <color
          rgba="0.698039215686274 0.698039215686274 0.698039215686274 1" />
      </material>
    </visual>
    <collision>
      <origin
        xyz="0 0 0"
        rpy="0 0 0" />
      <geometry>
        <mesh
          filename="../meshes/right_hand_thumb_rota_tip.STL" />
      </geometry>
    </collision>
  </link>
  <joint
    name="right_hand_thumb_rota_tip_joint"
    type="fixed">
    <origin
      xyz="0.051457 0 0"
      rpy="0 0 0" />
    <parent
      link="right_hand_thumb_rota_link2" />
    <child
      link="right_hand_thumb_rota_tip" />
    <axis
      xyz="0 0 0" />
  </joint>
  <link
    name="right_hand_mid_link1">
    <inertial>
      <origin
        xyz="-3.95688615073379E-06 -0.00162087664547151 -0.0402835815589399"
        rpy="0 0 0" />
      <mass
        value="0.0.0" />
      <inertia
        ixx="0.0"
        ixy="0.0"
        ixz="0.0"
        iyy="0.0"
        iyz="0.0"
        izz="0.0" />
    </inertial>
    <visual>
      <origin
        xyz="0 0 0"
        rpy="0 0 0" />
      <geometry>
        <mesh
          filename="../meshes/right_hand_mid_link1.STL" />
      </geometry>
      <material
        name="">
        <color
          rgba="0.698039215686274 0.698039215686274 0.698039215686274 1" />
      </material>
    </visual>
    <collision>
      <origin
        xyz="0 0 0"
        rpy="0 0 0" />
      <geometry>
        <mesh
          filename="../meshes/right_hand_mid_link1.STL" />
      </geometry>
    </collision>
  </link>
  <joint
    name="right_hand_mid_joint1"
    type="fixed">
    <origin
      xyz="0.00533 0.008 -0.1072"
      rpy="0 0 0" />
    <parent
      link="right_hand_link" />
    <child
      link="right_hand_mid_link1" />
    <axis
      xyz="1 0 0" />
    <limit
      lower="-2.0"
      upper="2.0"
      effort="0.0"
      velocity="0.0" />
    <dynamics
      damping="1"
      friction="1" />
  </joint>
  <link
    name="right_hand_mid_link2">
    <inertial>
      <origin
        xyz="-1.23620880346578E-08 -0.000272146436218238 -0.0237372832197695"
        rpy="0 0 0" />
      <mass
        value="0.0.0" />
      <inertia
        ixx="0.0"
        ixy="0.0"
        ixz="0.0"
        iyy="0.0"
        iyz="0.0"
        izz="0.0" />
    </inertial>
    <visual>
      <origin
        xyz="0 0 0"
        rpy="0 0 0" />
      <geometry>
        <mesh
          filename="../meshes/right_hand_mid_link2.STL" />
      </geometry>
      <material
        name="">
        <color
          rgba="0.698039215686274 0.698039215686274 0.698039215686274 1" />
      </material>
    </visual>
    <collision>
      <origin
        xyz="0 0 0"
        rpy="0 0 0" />
      <geometry>
        <mesh
          filename="../meshes/right_hand_mid_link2.STL" />
      </geometry>
    </collision>
  </link>
  <joint
    name="right_hand_mid_joint2"
    type="fixed">
    <origin
      xyz="0 0 -0.06525"
      rpy="0 0 0" />
    <parent
      link="right_hand_mid_link1" />
    <child
      link="right_hand_mid_link2" />
    <axis
      xyz="1 0 0" />
    <limit
      lower="-2.0"
      upper="2.0"
      effort="0.0"
      velocity="0.0" />
    <dynamics
      damping="1"
      friction="1" />
  </joint>
  <link
    name="right_hand_mid_tip">
    <inertial>
      <origin
        xyz="0 1.56125112837913E-17 2.77555756156289E-17"
        rpy="0 0 0" />
      <mass
        value="0.0.0" />
      <inertia
        ixx="0.0"
        ixy="0.0"
        ixz="0.0"
        iyy="0.0"
        iyz="0.0"
        izz="0.0" />
    </inertial>
    <visual>
      <origin
        xyz="0 0 0"
        rpy="0 0 0" />
      <geometry>
        <mesh
          filename="../meshes/right_hand_mid_tip.STL" />
      </geometry>
      <material
        name="">
        <color
          rgba="0.698039215686274 0.698039215686274 0.698039215686274 1" />
      </material>
    </visual>
    <collision>
      <origin
        xyz="0 0 0"
        rpy="0 0 0" />
      <geometry>
        <mesh
          filename="../meshes/right_hand_mid_tip.STL" />
      </geometry>
    </collision>
  </link>
  <joint
    name="right_hand_mid_tip_link"
    type="fixed">
    <origin
      xyz="0 0 -0.053247"
      rpy="0 0 0" />
    <parent
      link="right_hand_mid_link2" />
    <child
      link="right_hand_mid_tip" />
    <axis
      xyz="0 0 0" />
  </joint>
  <link
    name="right_hand_ring_link1">
    <inertial>
      <origin
        xyz="-3.95688615035389E-06 -0.00162087664547155 -0.0402835815589399"
        rpy="0 0 0" />
      <mass
        value="0.0.0" />
      <inertia
        ixx="0.0"
        ixy="0.0"
        ixz="0.0"
        iyy="0.0"
        iyz="0.0"
        izz="0.0" />
    </inertial>
    <visual>
      <origin
        xyz="0 0 0"
        rpy="0 0 0" />
      <geometry>
        <mesh
          filename="../meshes/right_hand_ring_link1.STL" />
      </geometry>
      <material
        name="">
        <color
          rgba="0.698039215686274 0.698039215686274 0.698039215686274 1" />
      </material>
    </visual>
    <collision>
      <origin
        xyz="0 0 0"
        rpy="0 0 0" />
      <geometry>
        <mesh
          filename="../meshes/right_hand_ring_link1.STL" />
      </geometry>
    </collision>
  </link>
  <joint
    name="right_hand_ring_joint1"
    type="fixed">
    <origin
      xyz="-0.01867 0.008 -0.1032"
      rpy="0 0 0" />
    <parent
      link="right_hand_link" />
    <child
      link="right_hand_ring_link1" />
    <axis
      xyz="1 0 0" />
    <limit
      lower="-2.0"
      upper="2.0"
      effort="0.0"
      velocity="0.0" />
    <dynamics
      damping="1"
      friction="1" />
  </joint>
  <link
    name="right_hand_ring_link2">
    <inertial>
      <origin
        xyz="-1.23620880268516E-08 -0.00027214643621821 -0.0237372832197696"
        rpy="0 0 0" />
      <mass
        value="0.0.0" />
      <inertia
        ixx="0.0"
        ixy="0.0"
        ixz="0.0"
        iyy="0.0"
        iyz="0.0"
        izz="0.0" />
    </inertial>
    <visual>
      <origin
        xyz="0 0 0"
        rpy="0 0 0" />
      <geometry>
        <mesh
          filename="../meshes/right_hand_ring_link2.STL" />
      </geometry>
      <material
        name="">
        <color
          rgba="0.698039215686274 0.698039215686274 0.698039215686274 1" />
      </material>
    </visual>
    <collision>
      <origin
        xyz="0 0 0"
        rpy="0 0 0" />
      <geometry>
        <mesh
          filename="../meshes/right_hand_ring_link2.STL" />
      </geometry>
    </collision>
  </link>
  <joint
    name="right_hand_ring_joint2"
    type="fixed">
    <origin
      xyz="0 0 -0.06525"
      rpy="0 0 0" />
    <parent
      link="right_hand_ring_link1" />
    <child
      link="right_hand_ring_link2" />
    <axis
      xyz="1 0 0" />
    <limit
      lower="-2.0"
      upper="2.0"
      effort="0.0"
      velocity="0.0" />
    <dynamics
      damping="1"
      friction="1" />
  </joint>
  <link
    name="right_hand_ring_tip">
    <inertial>
      <origin
        xyz="0 6.93889390390723E-18 -2.77555756156289E-17"
        rpy="0 0 0" />
      <mass
        value="0.0.0" />
      <inertia
        ixx="0.0"
        ixy="0.0"
        ixz="0.0"
        iyy="0.0"
        iyz="0.0"
        izz="0.0" />
    </inertial>
    <visual>
      <origin
        xyz="0 0 0"
        rpy="0 0 0" />
      <geometry>
        <mesh
          filename="../meshes/right_hand_ring_tip.STL" />
      </geometry>
      <material
        name="">
        <color
          rgba="0.698039215686274 0.698039215686274 0.698039215686274 1" />
      </material>
    </visual>
    <collision>
      <origin
        xyz="0 0 0"
        rpy="0 0 0" />
      <geometry>
        <mesh
          filename="../meshes/right_hand_ring_tip.STL" />
      </geometry>
    </collision>
  </link>
  <joint
    name="right_hand_ring_tip_joint"
    type="fixed">
    <origin
      xyz="0 0 -0.0532473502691896"
      rpy="0 0 0" />
    <parent
      link="right_hand_ring_link2" />
    <child
      link="right_hand_ring_tip" />
    <axis
      xyz="0 0 0" />
  </joint>
  <link
    name="right_hand_pinky_link1">
    <inertial>
      <origin
        xyz="-3.95688614933387E-06 -0.00162087664547155 -0.0402835815589385"
        rpy="0 0 0" />
      <mass
        value="0.0.0" />
      <inertia
        ixx="0.0"
        ixy="0.0"
        ixz="0.0"
        iyy="0.0"
        iyz="0.0"
        izz="0.0" />
    </inertial>
    <visual>
      <origin
        xyz="0 0 0"
        rpy="0 0 0" />
      <geometry>
        <mesh
          filename="../meshes/right_hand_pinky_link1.STL" />
      </geometry>
      <material
        name="">
        <color
          rgba="0.698039215686274 0.698039215686274 0.698039215686274 1" />
      </material>
    </visual>
    <collision>
      <origin
        xyz="0 0 0"
        rpy="0 0 0" />
      <geometry>
        <mesh
          filename="../meshes/right_hand_pinky_link1.STL" />
      </geometry>
    </collision>
  </link>
  <joint
    name="right_hand_pinky_joint1"
    type="fixed">
    <origin
      xyz="-0.04267 0.008 -0.0992"
      rpy="0 0 0" />
    <parent
      link="right_hand_link" />
    <child
      link="right_hand_pinky_link1" />
    <axis
      xyz="1 0 0" />
    <limit
      lower="-2.0"
      upper="2.0"
      effort="0.0"
      velocity="0.0" />
    <dynamics
      damping="1"
      friction="1" />
  </joint>
  <link
    name="right_hand_pinky_link2">
    <inertial>
      <origin
        xyz="-1.23620880337905E-08 -0.000272146436218182 -0.0237372832197692"
        rpy="0 0 0" />
      <mass
        value="0.0.0" />
      <inertia
        ixx="0.0"
        ixy="0.0"
        ixz="0.0"
        iyy="0.0"
        iyz="0.0"
        izz="0.0" />
    </inertial>
    <visual>
      <origin
        xyz="0 0 0"
        rpy="0 0 0" />
      <geometry>
        <mesh
          filename="../meshes/right_hand_pinky_link2.STL" />
      </geometry>
      <material
        name="">
        <color
          rgba="0.698039215686274 0.698039215686274 0.698039215686274 1" />
      </material>
    </visual>
    <collision>
      <origin
        xyz="0 0 0"
        rpy="0 0 0" />
      <geometry>
        <mesh
          filename="../meshes/right_hand_pinky_link2.STL" />
      </geometry>
    </collision>
  </link>
  <joint
    name="right_hand_pinky_joint2"
    type="fixed">
    <origin
      xyz="0 0 -0.06525"
      rpy="0 0 0" />
    <parent
      link="right_hand_pinky_link1" />
    <child
      link="right_hand_pinky_link2" />
    <axis
      xyz="1 0 0" />
    <limit
      lower="-2.0"
      upper="2.0"
      effort="0.0"
      velocity="0.0" />
    <dynamics
      damping="1"
      friction="1" />
  </joint>
<link
    name="right_hand_pinky_tip">
    <inertial>
      <origin
        xyz="-6.93889390390723E-18 -1.04083408558608E-17 -2.77555756156289E-17"
        rpy="0 0 0" />
      <mass
        value="0.0.0" />
      <inertia
        ixx="0.0"
        ixy="0.0"
        ixz="0.0"
        iyy="0.0"
        iyz="0.0"
        izz="0.0" />
    </inertial>
    <visual>
      <origin
        xyz="0 0 0"
        rpy="0 0 0" />
      <geometry>
        <mesh
          filename="../meshes/right_hand_pinky_tip.STL" />
      </geometry>
      <material
        name="">
        <color
          rgba="0.698039215686274 0.698039215686274 0.698039215686274 1" />
      </material>
    </visual>
    <collision>
      <origin
        xyz="0 0 0"
        rpy="0 0 0" />
      <geometry>
        <mesh
          filename="../meshes/right_hand_pinky_tip.STL" />
      </geometry>
    </collision>
  </link>
  <joint
    name="right_hand_pinky_tip_joint"
    type="fixed">
    <origin
      xyz="0 0 -0.053247"
      rpy="0 0 0" />
    <parent
      link="right_hand_pinky_link2" />
    <child
      link="right_hand_pinky_tip" />
    <axis
      xyz="0 0 0" />
  </joint>
  <link
    name="right_hand_ee_link">
    <inertial>
      <origin
        xyz="1.17549435082229E-34 0.0300000000000001 -1.38777878078145E-17"
        rpy="0 0 0" />
      <mass
        value="0.0.0" />
      <inertia
        ixx="0.0"
        ixy="0.0"
        ixz="0.0"
        iyy="0.0"
        iyz="0.0"
        izz="0.0" />
    </inertial>
    <visual>
      <origin
        xyz="0 0 0"
        rpy="0 0 0" />
      <geometry>
        <mesh
          filename="../meshes/right_hand_ee_link.STL" />
      </geometry>
      <material
        name="">
        <color
          rgba="0.698039215686274 0.698039215686274 0.698039215686274 1" />
      </material>
    </visual>
    <collision>
      <origin
        xyz="0 0 0"
        rpy="0 0 0" />
      <geometry>
        <mesh
          filename="../meshes/right_hand_ee_link.STL" />
      </geometry>
    </collision>
  </link>
  <joint
    name="right_hand_ee_joint"
    type="fixed">
    <origin
      xyz="0 0 -0.08"
      rpy="0 3.1415926 3.1415926" />
    <parent
      link="right_hand_link" />
    <child
      link="right_hand_ee_link" />
    <axis
      xyz="0 0 0" />
  </joint>
  <link
    name="right_hand_index_rota_link1">
    <inertial>
      <origin
        xyz="-3.99136487025387E-06 -0.00165196763865709 -0.0418295886915023"
        rpy="0 0 0" />
      <mass
        value="0.0792128309616318" />
      <inertia
        ixx="2.73179210789584E-05"
        ixy="-3.12074785316044E-09"
        ixz="1.14039594570478E-09"
        iyy="2.58685008629749E-05"
        iyz="5.29252413650529E-07"
        izz="6.13281889095306E-06" />
    </inertial>
    <visual>
      <origin
        xyz="0 0 0"
        rpy="0 0 0" />
      <geometry>
        <mesh
          filename="../meshes/right_hand_index_rota_link1.STL" />
      </geometry>
      <material
        name="">
        <color
          rgba="0.698039215686274 0.698039215686274 0.698039215686274 1" />
      </material>
    </visual>
    <collision>
      <origin
        xyz="0 0 0"
        rpy="0 0 0" />
      <geometry>
        <mesh
          filename="../meshes/right_hand_index_rota_link1.STL" />
      </geometry>
    </collision>
  </link>
  <joint
    name="right_hand_index_joint1"
    type="fixed">
    <origin
      xyz="0.03583 0.006 -0.1067"
      rpy="0 0 0" />
    <parent
      link="right_hand_link" />
    <child
      link="right_hand_index_rota_link1" />
    <axis
      xyz="1 0 0" />
    <limit
      lower="-0.24"
      upper="1.57"
      effort="0.56"
      velocity="9.82" />
    <dynamics
      damping="1"
      friction="1" />
  </joint>
  <link
    name="right_hand_index_rota_link2">
    <inertial>
      <origin
        xyz="-1.23620882350184E-08 -0.000272146436218233 -0.0237372832197686"
        rpy="0 0 0" />
      <mass
        value="0.0.0" />
      <inertia
        ixx="0.0"
        ixy="0.0"
        ixz="0.0"
        iyy="0.0"
        iyz="0.0"
        izz="0.0" />
    </inertial>
    <visual>
      <origin
        xyz="0 0 0"
        rpy="0 0 0" />
      <geometry>
        <mesh
          filename="../meshes/right_hand_index_rota_link2.STL" />
      </geometry>
      <material
        name="">
        <color
          rgba="0.698039215686274 0.698039215686274 0.698039215686274 1" />
      </material>
    </visual>
    <collision>
      <origin
        xyz="0 0 0"
        rpy="0 0 0" />
      <geometry>
        <mesh
          filename="../meshes/right_hand_index_rota_link2.STL" />
      </geometry>
    </collision>
  </link>
  <joint
    name="right_hand_index_joint2"
    type="fixed">
    <origin
      xyz="0 0 -0.06675"
      rpy="0 0 0" />
    <parent
      link="right_hand_index_rota_link1" />
    <child
      link="right_hand_index_rota_link2" />
    <axis
      xyz="1 0 0" />
    <limit
      lower="-2.0"
      upper="2.0"
      effort="0.0"
      velocity="0.0" />
    <dynamics
      damping="1"
      friction="1" />
  </joint>
  <link
    name="right_hand_index_tip">
    <inertial>
      <origin
        xyz="-1.38777878078145E-17 8.67361737988404E-19 -2.77555756156289E-17"
        rpy="0 0 0" />
      <mass
        value="0.0.0" />
      <inertia
        ixx="0.0"
        ixy="0.0"
        ixz="0.0"
        iyy="0.0"
        iyz="0.0"
        izz="0.0" />
    </inertial>
    <visual>
      <origin
        xyz="0 0 0"
        rpy="0 0 0" />
      <geometry>
        <mesh
          filename="../meshes/right_hand_index_tip.STL" />
      </geometry>
      <material
        name="">
        <color
          rgba="0.698039215686274 0.698039215686274 0.698039215686274 1" />
      </material>
    </visual>
    <collision>
      <origin
        xyz="0 0 0"
        rpy="0 0 0" />
      <geometry>
        <mesh
          filename="../meshes/right_hand_index_tip.STL" />
      </geometry>
    </collision>
  </link>
  <joint
    name="right_hand_index_tip_joint"
    type="fixed">
    <origin
      xyz="0 0 -0.053247"
      rpy="0 0 0" />
    <parent
      link="right_hand_index_rota_link2" />
    <child
      link="right_hand_index_tip" />
    <axis
      xyz="0 0 0" />
  </joint>

  <!--left_arm_flange_link -->
  <link name="left_arm_flange_link">
		<!-- <visual>
			<origin xyz=" 0 0 0 " rpy="0 0 0" />
			<geometry>
				<cylinder length="0.01" radius="0.01"/>
			</geometry>
			<material name="black"/>
		</visual> -->
    </link> 
  <joint
    name="left_arm_flange_fixed_joint"
    type="fixed">
    <origin
      xyz="0.0 0 0.1135"
      rpy="0 0 0" />
    <parent
      link="left_wrist_yaw_link" />
    <child
      link="left_arm_flange_link" />
  </joint>


  <!--right_arm_flange_link -->
    <link name="right_arm_flange_link">
		<!-- <visual>
			<origin xyz=" 0 0 0 " rpy="0 0 0" />
			<geometry>
				<cylinder length="0.01" radius="0.01"/>
			</geometry>
			<material name="black"/>
		</visual> -->
    </link> 
  <joint
    name="right_arm_flange_fixed_joint"
    type="fixed">
    <origin
      xyz="0.0 0.0 0.1135"
      rpy="0.0 0.0 0.0" />
    <parent
      link="right_wrist_yaw_link" />
    <child
      link="right_arm_flange_link" />
  </joint>



<!--lfoot_bottom_joint -->
    <link name="l_foot_bottom_link">
		<!-- <visual>
			<origin xyz=" 0 0 0 " rpy="0 0 0" />
			<geometry>
				<cylinder length="0.01" radius="0.01"/>
			</geometry>
			<material name="black"/>
		</visual> -->
    </link>
 
    <joint name="lfoot_bottom_joint" type="fixed">
        <origin xyz="0 0 -0.000" rpy="0 0 0"/>
        <parent link="left_foot_ee_link"/>
        <child link="l_foot_bottom_link"/>
    </joint>


<!--rfoot_bottom_joint -->
    <link name="r_foot_bottom_link">
		<!-- <visual>
			<origin xyz=" 0 0 0 " rpy="0 0 0" />
			<geometry>
				<cylinder length="0.01" radius="0.01"/>
			</geometry>
			<material name="black"/>
		</visual> -->
    </link>
 
    <joint name="rfoot_bottom_joint" type="fixed">
        <origin xyz="0 0 -0.000" rpy="0 0 0"/>
        <parent link="right_foot_ee_link"/>
        <child link="r_foot_bottom_link"/>
    </joint>  

  <link name="left_arm_vr_ee">
    </link> 
    <joint
    name="left_arm_vr_ee_fixed_joint"
    type="fixed">
    <origin
      xyz="0.0 0.0 0.0"
      rpy="3.1415926 0.0 0.0" />
    <parent
      link="left_arm_flange_link" />
    <child
      link="left_arm_vr_ee" />
  </joint>

  <link name="right_arm_vr_ee">
    </link> 
    <joint
    name="right_arm_vr_ee_fixed_joint"
    type="fixed">
    <origin
      xyz="0.0 0.0 0.0"
      rpy="3.1415926 0.0 0.0" />
    <parent
      link="right_arm_flange_link" />
    <child
      link="right_arm_vr_ee" />
  </joint>


</robot>
